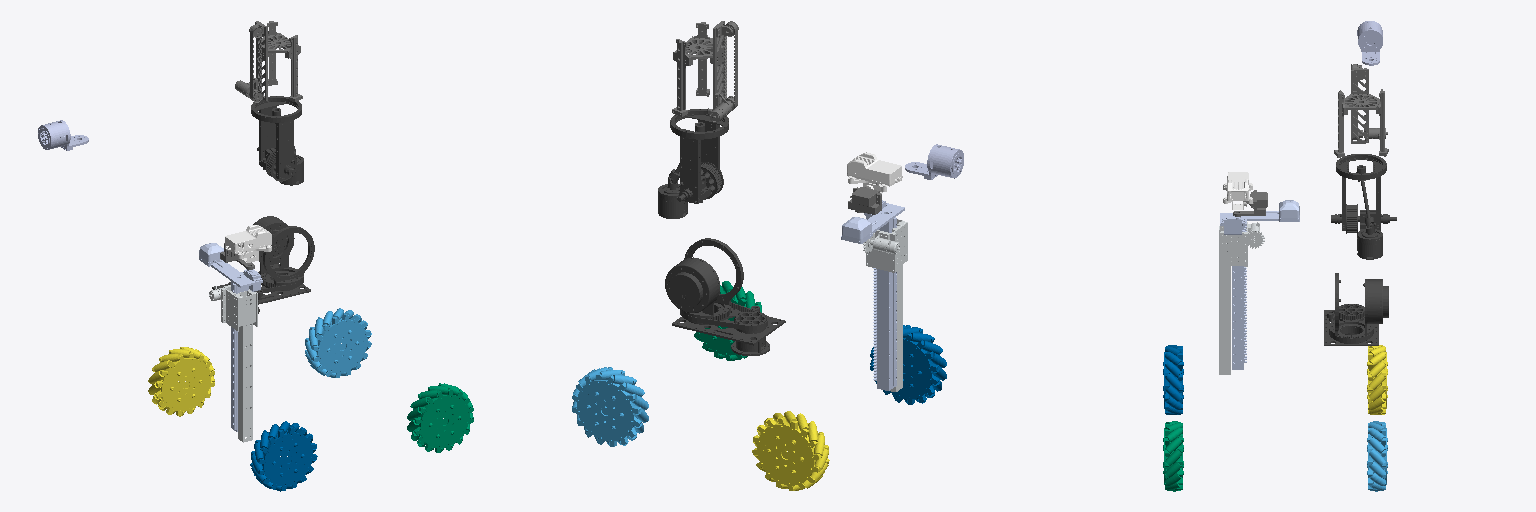
--- What the picture shows (computed from the rendered views, not written in the file) ---
3 views of the same robot in one strip: view 1: azimuth 30°, elevation 25°; view 2: azimuth 150°, elevation 25°; view 3: azimuth 270°, elevation 25° (orthographic).
Robot: engineer — 82 links, 81 joints (12 revolute, 64 continuous, 2 prismatic, 3 fixed); root link base_link; default pose: every joint at zero.
Visible links, largest first — view 1: left_front_wheel, left_back_wheel, right_back_wheel, right_front_wheel, link3, fpv_base_link, link6, link1, mast, fpv_pitch, link5, arm_base_link; view 2: link3, left_back_wheel, left_front_wheel, mast, link6, link1, right_back_wheel, arm_base_link, fpv_base_link, fpv_pitch, link5, right_front_wheel (+1 smaller); view 3: link3, mast, fpv_base_link, link6, link1, arm_base_link, right_back_wheel, left_front_wheel, right_front_wheel, left_back_wheel, link5, fpv_pitch.
Boxes of the visible links, <box> form: left_front_wheel: <box>305,308,371,377</box>; left_back_wheel: <box>148,347,214,416</box>; right_back_wheel: <box>250,421,317,491</box>; right_front_wheel: <box>407,383,473,452</box>; link3: <box>251,96,303,185</box>; fpv_base_link: <box>209,285,257,442</box>; link6: <box>235,21,302,102</box>; link1: <box>253,216,314,286</box>; mast: <box>199,243,262,431</box>; fpv_pitch: <box>225,225,271,262</box>; link5: <box>38,120,88,150</box>; arm_base_link: <box>212,267,310,313</box>; link3: <box>658,109,728,218</box>; left_back_wheel: <box>752,411,829,490</box>; left_front_wheel: <box>572,367,648,446</box>; mast: <box>841,200,904,390</box>; link6: <box>672,21,738,122</box>; link1: <box>665,238,743,320</box>; right_back_wheel: <box>870,325,946,404</box>; arm_base_link: <box>672,302,785,355</box>; fpv_base_link: <box>863,219,907,391</box>; fpv_pitch: <box>847,152,902,193</box>; link5: <box>905,144,963,179</box>; right_front_wheel: <box>694,281,761,360</box>; link3: <box>1331,154,1396,259</box>; mast: <box>1220,200,1299,369</box>; fpv_base_link: <box>1219,222,1264,374</box>; link6: <box>1334,64,1388,157</box>; link1: <box>1329,273,1388,337</box>; arm_base_link: <box>1324,304,1378,345</box>; right_back_wheel: <box>1163,345,1183,414</box>; left_front_wheel: <box>1367,421,1387,491</box>; right_front_wheel: <box>1163,421,1183,491</box>; left_back_wheel: <box>1367,345,1387,414</box>; link5: <box>1357,21,1382,65</box>; fpv_pitch: <box>1223,172,1252,209</box>.
Bounding box of the posed robot: 0.8282 × 0.5123 × 0.9153 m (x, y, z).
Meshes: 15 distinct files referenced, 13 mesh visuals loaded (11 binary STL); not drawn: 4 (reference not matched to a file when rendering).

robot.urdf — engineer:
<?xml version="1.0" ?>
<!-- =================================================================================== -->
<!-- |    This document was autogenerated by xacro from [local-path]/catkin_ws/src/sp_description/urdf/engineer/engineer.xacro | -->
<!-- |    EDITING THIS FILE BY HAND IS NOT RECOMMENDED                                 | -->
<!-- =================================================================================== -->
<robot name="engineer">
    <transmission name="trans_joint1">
        <type>transmission_interface/SimpleTransmission</type>
        <actuator name="joint1_motor">
            <mechanicalReduction>1.5</mechanicalReduction>
            <hardwareInterface>hardware_interface/PositionJointInterface</hardwareInterface>
        </actuator>
        <joint name="joint1">
            <hardwareInterface>hardware_interface/PositionJointInterface</hardwareInterface>
        </joint>
    </transmission>
    <transmission name="trans_joint2">
        <type>transmission_interface/SimpleTransmission</type>
        <actuator name="joint2_motor">
            <mechanicalReduction>6</mechanicalReduction>
            <hardwareInterface>hardware_interface/PositionJointInterface</hardwareInterface>
        </actuator>
        <joint name="joint2">
            <hardwareInterface>hardware_interface/PositionJointInterface</hardwareInterface>
        </joint>
    </transmission>
    <transmission name="trans_joint3">
        <type>transmission_interface/SimpleTransmission</type>
        <actuator name="joint3_motor">
            <mechanicalReduction>6</mechanicalReduction>
            <hardwareInterface>hardware_interface/PositionJointInterface</hardwareInterface>
        </actuator>
        <joint name="joint3">
            <hardwareInterface>hardware_interface/PositionJointInterface</hardwareInterface>
        </joint>
    </transmission>
    <transmission name="trans_joint4">
        <type>transmission_interface/SimpleTransmission</type>
        <actuator name="joint4_motor">
            <mechanicalReduction>1</mechanicalReduction>
            <hardwareInterface>hardware_interface/PositionJointInterface</hardwareInterface>
        </actuator>
        <joint name="joint4">
            <hardwareInterface>hardware_interface/PositionJointInterface</hardwareInterface>
        </joint>
    </transmission>
    <transmission name="trans_joint5">
        <type>transmission_interface/SimpleTransmission</type>
        <actuator name="joint5_motor">
            <mechanicalReduction>1</mechanicalReduction>
            <hardwareInterface>hardware_interface/PositionJointInterface</hardwareInterface>
        </actuator>
        <joint name="joint5">
            <hardwareInterface>hardware_interface/PositionJointInterface</hardwareInterface>
        </joint>
    </transmission>
    <transmission name="trans_joint6">
        <type>transmission_interface/SimpleTransmission</type>
        <actuator name="joint6_motor">
            <mechanicalReduction>1</mechanicalReduction>
            <hardwareInterface>hardware_interface/PositionJointInterface</hardwareInterface>
        </actuator>
        <joint name="joint6">
            <hardwareInterface>hardware_interface/PositionJointInterface</hardwareInterface>
        </joint>
    </transmission>
    <transmission name="trans_joint7">
        <type>transmission_interface/SimpleTransmission</type>
        <actuator name="joint7_motor">
            <mechanicalReduction>1570.8</mechanicalReduction>
            <hardwareInterface>hardware_interface/PositionJointInterface</hardwareInterface>
        </actuator>
        <joint name="joint7">
            <hardwareInterface>hardware_interface/PositionJointInterface</hardwareInterface>
        </joint>
    </transmission>
    <gazebo>
        <plugin filename="libgazebo_ros_vacuum_gripper.so" name="gazebo_ros_vacuum_gripper">
            <robotNamespace>/vacuum_gripper</robotNamespace>
            <bodyName>vacuum_gripper</bodyName>
            <topicName>grasping</topicName>
            <maxForce>100</maxForce>
            <maxDistance>0.05</maxDistance>
            <minDistance>0.01</minDistance>
        </plugin>
        <plugin name="gazebo_ros_control">
            <robotNamespace>/</robotNamespace>
        </plugin>
    </gazebo>
    <gazebo reference="vacuum_gripper">
        <mu1>50</mu1>
        <mu2>50</mu2>
        <minDepth>0.003</minDepth>
        <maxVel>0</maxVel>
        <kp>10000000000000.0</kp>
        <kd>1.0</kd>
        <ki>2.0</ki>
        <material>Gazebo/Grey</material>
    </gazebo>
    --&gt;
    <!--base link-->
    <link name="base_link">
        <inertial>
            <origin rpy="0 0 0" xyz="0.0147695790883097 -0.0277071473448106 0.0578144581314767" />
            <mass value="10.0515226503987" />
            <inertia ixx="0.0193511082538768" ixy="-3.41760973575497E-05" ixz="5.54217286706699E-06" iyy="0.0356235596590244" iyz="-8.92016001448171E-06" izz="0.046454065978897" />
        </inertial>
        <visual>
            <origin rpy="0 0 0" xyz="0 0 0" />
            <geometry>
                <mesh filename="package://sp_description/meshes/engineer_chassis/base_link.STL" />
            </geometry>
            <material name="">
                <color rgba="0.792156862745098 0.819607843137255 0.933333333333333 1" />
            </material>
        </visual>
        <collision>
            <origin rpy="0 0 0" xyz="0 0 0" />
            <geometry>
                <box size="0.6 0.6 0.150" />
            </geometry>
        </collision>
        <collision>
            <origin rpy="0 0 0" xyz="0.228 0.0 0.118" />
            <geometry>
                <box size="0.144 0.3 0.14" />
            </geometry>
        </collision>
        <collision>
            <origin rpy="0 0 0" xyz="-0.205 0.0 0.10" />
            <geometry>
                <box size="0.19 0.3 0.09" />
            </geometry>
        </collision>
        <collision>
            <origin rpy="0 0 0" xyz="-0.01 0.193 0.13" />
            <geometry>
                <box size="0.220 0.214 0.148" />
            </geometry>
        </collision>
        <collision>
            <origin rpy="0 0 0" xyz="0.0 0.22 0.09" />
            <geometry>
                <box size="0.6 0.16 0.07" />
            </geometry>
        </collision>
        <collision>
            <origin rpy="0 0 0" xyz="0.0 -0.24 0.13" />
            <geometry>
                <box size="0.5 0.12 0.28" />
            </geometry>
        </collision>
        <collision>
            <origin rpy="0 0 0" xyz="0.0 0.054 0.10" />
            <geometry>
                <box rpy="0 0 0" size="0.19 0.008 0.10" />
            </geometry>
        </collision>
        <collision>
            <origin rpy="0 0 0" xyz="0.0 -0.172 0.10" />
            <geometry>
                <box size="0.19 0.01 0.10" />
            </geometry>
        </collision>
    </link>
    <!--  link  -->
    <link name="left_front_wheel">
        <visual>
            <geometry>
                <mesh filename="package://sp_description/meshes/common/mecanum_wheel/right_mecanum_wheel.STL" />
            </geometry>
        </visual>
        <inertial>
            <mass value="0.4235" />
            <inertia ixx="4.122e-4" ixy="0.0" ixz="0.0" iyy="7.398e-4" iyz="0.0" izz="4.122e-4" />
        </inertial>
    </link>
    <!--  joint  -->
    <joint name="left_front_wheel_joint" type="revolute">
        <axis xyz="0 1 0" />
        <origin rpy="0 0 0" xyz="0.19727 0.223 0.000889" />
        <!--      limit not work while type="continuous"-->
        <limit effort="10" lower="-1e9" upper="1e9" velocity="70" />
        <dynamics damping="0.0" friction="0.05" />
        <parent link="base_link" />
        <child link="left_front_wheel" />
    </joint>
    <!--  link  -->
    <link name="left_front_roller_0">
        <collision>
            <geometry>
                <sphere radius="0.009" />
            </geometry>
        </collision>
        <inertial>
            <mass value="0.036" />
            <inertia ixx="3128e-9" ixy="0.0" ixz="0.0" iyy="3128e-9" iyz="0.0" izz="3128e-9" />
            <origin xyz="0 0 0" rpy="0 0 0" />
        </inertial>
    </link>
    <joint name="left_front_roller_0_joint" type="continuous">
        <origin rpy="0 0 0" xyz="4.163799117101001e-18 0 -0.068" />
        <axis xyz="0.7071067811865476 -0.7071067811865476 0.0" />
        <dynamics damping="0.0" friction="0.001" />
        <parent link="left_front_wheel" />
        <child link="left_front_roller_0" />
    </joint>
    <gazebo reference="left_front_roller_0">
        <mu1 value="2000.0" />
        <mu2 value="2000.0" />
        <kp value="1000000.0" />
        <kd value="100.0" />
        <material>Gazebo/Black</material>
    </gazebo>
    <!--  link  -->
    <link name="left_front_roller_1">
        <collision>
            <geometry>
                <sphere radius="0.009" />
            </geometry>
        </collision>
        <inertial>
            <mass value="0.036" />
            <inertia ixx="3128e-9" ixy="0.0" ixz="0.0" iyy="3128e-9" iyz="0.0" izz="3128e-9" />
            <origin xyz="0 0 0" rpy="0 0 0" />
        </inertial>
    </link>
    <joint name="left_front_roller_1_joint" type="continuous">
        <origin rpy="0 0 0" xyz="0.026041377055996056 0 -0.06281597472798972" />
        <axis xyz="0.653200024955946 -0.7071067811865476 0.27079462217250855" />
        <dynamics damping="0.0" friction="0.001" />
        <parent link="left_front_wheel" />
        <child link="left_front_roller_1" />
    </joint>
    <gazebo reference="left_front_roller_1">
        <mu1 value="2000.0" />
        <mu2 value="2000.0" />
        <kp value="1000000.0" />
        <kd value="100.0" />
        <material>Gazebo/Black</material>
    </gazebo>
    <!--  link  -->
    <link name="left_front_roller_2">
        <collision>
            <geometry>
                <sphere radius="0.009" />
            </geometry>
        </collision>
        <inertial>
            <mass value="0.036" />
            <inertia ixx="3128e-9" ixy="0.0" ixz="0.0" iyy="3128e-9" iyz="0.0" izz="3128e-9" />
            <origin xyz="0 0 0" rpy="0 0 0" />
        </inertial>
    </link>
    <joint name="left_front_roller_2_joint" type="continuous">
        <origin rpy="0 0 0" xyz="0.04811219067739703 0 -0.048054314147865956" />
        <axis xyz="0.49969899116506866 -0.7071067811865476 0.5003008277312888" />
        <dynamics damping="0.0" friction="0.001" />
        <parent link="left_front_wheel" />
        <child link="left_front_roller_2" />
    </joint>
    <gazebo reference="left_front_roller_2">
        <mu1 value="2000.0" />
        <mu2 value="2000.0" />
        <kp value="1000000.0" />
        <kd value="100.0" />
        <material>Gazebo/Black</material>
    </gazebo>
    <!--  link  -->
    <link name="left_front_roller_3">
        <collision>
            <geometry>
                <sphere radius="0.009" />
            </geometry>
        </collision>
        <inertial>
            <mass value="0.036" />
            <inertia ixx="3128e-9" ixy="0.0" ixz="0.0" iyy="3128e-9" iyz="0.0" izz="3128e-9" />
            <origin xyz="0 0 0" rpy="0 0 0" />
        </inertial>
    </link>
    <joint name="left_front_roller_3_joint" type="continuous">
        <origin rpy="0 0 0" xyz="0.06284727452340379 0 -0.025965748303869884" />
        <axis xyz="0.2700081868271984 -0.7071067811865476 0.6535254999204613" />
        <dynamics damping="0.0" friction="0.001" />
        <parent link="left_front_wheel" />
        <child link="left_front_roller_3" />
    </joint>
    <gazebo reference="left_front_roller_3">
        <mu1 value="2000.0" />
        <mu2 value="2000.0" />
        <kp value="1000000.0" />
        <kd value="100.0" />
        <material>Gazebo/Black</material>
    </gazebo>
    <!--  link  -->
    <link name="left_front_roller_4">
        <collision>
            <geometry>
                <sphere radius="0.009" />
            </geometry>
        </collision>
        <inertial>
            <mass value="0.036" />
            <inertia ixx="3128e-9" ixy="0.0" ixz="0.0" iyy="3128e-9" iyz="0.0" izz="3128e-9" />
            <origin xyz="0 0 0" rpy="0 0 0" />
        </inertial>
    </link>
    <joint name="left_front_roller_4_joint" type="continuous">
        <origin rpy="0 0 0" xyz="0.06799995073981367 0 8.184975818264867e-05" />
        <axis xyz="-0.0008511252801386329 -0.7071067811865476 0.7071062689481388" />
        <dynamics damping="0.0" friction="0.001" />
        <parent link="left_front_wheel" />
        <child link="left_front_roller_4" />
    </joint>
    <gazebo reference="left_front_roller_4">
        <mu1 value="2000.0" />
        <mu2 value="2000.0" />
        <kp value="1000000.0" />
        <kd value="100.0" />
        <material>Gazebo/Black</material>
    </gazebo>
    <!--  link  -->
    <link name="left_front_roller_5">
        <collision>
            <geometry>
                <sphere radius="0.009" />
            </geometry>
        </collision>
        <inertial>
            <mass value="0.036" />
            <inertia ixx="3128e-9" ixy="0.0" ixz="0.0" iyy="3128e-9" iyz="0.0" izz="3128e-9" />
            <origin xyz="0 0 0" rpy="0 0 0" />
        </inertial>
    </link>
    <joint name="left_front_roller_5_joint" type="continuous">
        <origin rpy="0 0 0" xyz="0.06278458392296919 0 0.026116968078619688" />
        <axis xyz="-0.27158066518271434 -0.7071067811865476 0.6528736036162853" />
        <dynamics damping="0.0" friction="0.001" />
        <parent link="left_front_wheel" />
        <child link="left_front_roller_5" />
    </joint>
    <gazebo reference="left_front_roller_5">
        <mu1 value="2000.0" />
        <mu2 value="2000.0" />
        <kp value="1000000.0" />
        <kd value="100.0" />
        <material>Gazebo/Black</material>
    </gazebo>
    <!--  link  -->
    <link name="left_front_roller_6">
        <collision>
            <geometry>
                <sphere radius="0.009" />
            </geometry>
        </collision>
        <inertial>
            <mass value="0.036" />
            <inertia ixx="3128e-9" ixy="0.0" ixz="0.0" iyy="3128e-9" iyz="0.0" izz="3128e-9" />
            <origin xyz="0 0 0" rpy="0 0 0" />
        </inertial>
    </link>
    <joint name="left_front_roller_6_joint" type="continuous">
        <origin rpy="0 0 0" xyz="0.0479963679958505 0 0.04816999750059053" />
        <axis xyz="-0.5009019394471561 -0.7071067811865476 0.499096430620454" />
        <dynamics damping="0.0" friction="0.001" />
        <parent link="left_front_wheel" />
        <child link="left_front_roller_6" />
    </joint>
    <gazebo reference="left_front_roller_6">
        <mu1 value="2000.0" />
        <mu2 value="2000.0" />
        <kp value="1000000.0" />
        <kd value="100.0" />
        <material>Gazebo/Black</material>
    </gazebo>
    <!--  link  -->
    <link name="left_front_roller_7">
        <collision>
            <geometry>
                <sphere radius="0.009" />
            </geometry>
        </collision>
        <inertial>
            <mass value="0.036" />
            <inertia ixx="3128e-9" ixy="0.0" ixz="0.0" iyy="3128e-9" iyz="0.0" izz="3128e-9" />
            <origin xyz="0 0 0" rpy="0 0 0" />
        </inertial>
    </link>
    <joint name="left_front_roller_7_joint" type="continuous">
        <origin rpy="0 0 0" xyz="0.0258900819318143 0 0.06287848326386335" />
        <axis xyz="-0.6538500280382736 -0.7071067811865476 0.2692213602861942" />
        <dynamics damping="0.0" friction="0.001" />
        <parent link="left_front_wheel" />
        <child link="left_front_roller_7" />
    </joint>
    <gazebo reference="left_front_roller_7">
        <mu1 value="2000.0" />
        <mu2 value="2000.0" />
        <kp value="1000000.0" />
        <kd value="100.0" />
        <material>Gazebo/Black</material>
    </gazebo>
    <!--  link  -->
    <link name="left_front_roller_8">
        <collision>
            <geometry>
                <sphere radius="0.009" />
            </geometry>
        </collision>
        <inertial>
            <mass value="0.036" />
            <inertia ixx="3128e-9" ixy="0.0" ixz="0.0" iyy="3128e-9" iyz="0.0" izz="3128e-9" />
            <origin xyz="0 0 0" rpy="0 0 0" />
        </inertial>
    </link>
    <joint name="left_front_roller_8_joint" type="continuous">
        <origin rpy="0 0 0" xyz="-0.00016369939777898906 0 0.06799980295932605" />
        <axis xyz="-0.7071047322336546 -0.7071067811865476 -0.0017022493271422689" />
        <dynamics damping="0.0" friction="0.001" />
        <parent link="left_front_wheel" />
        <child link="left_front_roller_8" />
    </joint>
    <gazebo reference="left_front_roller_8">
        <mu1 value="2000.0" />
        <mu2 value="2000.0" />
        <kp value="1000000.0" />
        <kd value="100.0" />
        <material>Gazebo/Black</material>
    </gazebo>
    <!--  link  -->
    <link name="left_front_roller_9">
        <collision>
            <geometry>
                <sphere radius="0.009" />
            </geometry>
        </collision>
        <inertial>
            <mass value="0.036" />
            <inertia ixx="3128e-9" ixy="0.0" ixz="0.0" iyy="3128e-9" iyz="0.0" izz="3128e-9" />
            <origin xyz="0 0 0" rpy="0 0 0" />
        </inertial>
    </link>
    <joint name="left_front_roller_9_joint" type="continuous">
        <origin rpy="0 0 0" xyz="-0.026192521262222306 0 0.06275310215382211" />
        <axis xyz="-0.6525462363744081 -0.7071067811865476 -0.2723663147189738" />
        <dynamics damping="0.0" friction="0.001" />
        <parent link="left_front_wheel" />
        <child link="left_front_roller_9" />
    </joint>
    <gazebo reference="left_front_roller_9">
        <mu1 value="2000.0" />
        <mu2 value="2000.0" />
        <kp value="1000000.0" />
        <kd value="100.0" />
        <material>Gazebo/Black</material>
    </gazebo>
    <!--  link  -->
    <link name="left_front_roller_10">
        <collision>
            <geometry>
                <sphere radius="0.009" />
            </geometry>
        </collision>
        <inertial>
            <mass value="0.036" />
            <inertia ixx="3128e-9" ixy="0.0" ixz="0.0" iyy="3128e-9" iyz="0.0" izz="3128e-9" />
            <origin xyz="0 0 0" rpy="0 0 0" />
        </inertial>
    </link>
    <joint name="left_front_roller_10_joint" type="continuous">
        <origin rpy="0 0 0" xyz="-0.048227734533694264 0 0.04793835230530472" />
        <axis xyz="-0.49849314697045194 -0.7071067811865476 -0.5015023254417625" />
        <dynamics damping="0.0" friction="0.001" />
        <parent link="left_front_wheel" />
        <child link="left_front_roller_10" />
    </joint>
    <gazebo reference="left_front_roller_10">
        <mu1 value="2000.0" />
        <mu2 value="2000.0" />
        <kp value="1000000.0" />
        <kd value="100.0" />
        <material>Gazebo/Black</material>
    </gazebo>
    <!--  link  -->
    <link name="left_front_roller_11">
        <collision>
            <geometry>
                <sphere radius="0.009" />
            </geometry>
        </collision>
        <inertial>
            <mass value="0.036" />
            <inertia ixx="3128e-9" ixy="0.0" ixz="0.0" iyy="3128e-9" iyz="0.0" izz="3128e-9" />
            <origin xyz="0 0 0" rpy="0 0 0" />
        </inertial>
    </link>
    <joint name="left_front_roller_11_joint" type="continuous">
        <origin rpy="0 0 0" xyz="-0.06290960090415226 0 0.02581437804945697" />
        <axis xyz="-0.2684341436894733 -0.7071067811865476 -0.6541736088391974" />
        <dynamics damping="0.0" friction="0.001" />
        <parent link="left_front_wheel" />
        <child link="left_front_roller_11" />
    </joint>
    <gazebo reference="left_front_roller_11">
        <mu1 value="2000.0" />
        <mu2 value="2000.0" />
        <kp value="1000000.0" />
        <kd value="100.0" />
        <material>Gazebo/Black</material>
    </gazebo>
    <!--  link  -->
    <link name="left_front_roller_12">
        <collision>
            <geometry>
                <sphere radius="0.009" />
            </geometry>
        </collision>
        <inertial>
            <mass value="0.036" />
            <inertia ixx="3128e-9" ixy="0.0" ixz="0.0" iyy="3128e-9" iyz="0.0" izz="3128e-9" />
            <origin xyz="0 0 0" rpy="0 0 0" />
        </inertial>
    </link>
    <joint name="left_front_roller_12_joint" type="continuous">
        <origin rpy="0 0 0" xyz="-0.06799955665875124 0 -0.0002455488002028931" />
        <axis xyz="0.002553370907877698 -0.7071067811865476 -0.7071021710453214" />
        <dynamics damping="0.0" friction="0.001" />
        <parent link="left_front_wheel" />
        <child link="left_front_roller_12" />
    </joint>
    <gazebo reference="left_front_roller_12">
        <mu1 value="2000.0" />
        <mu2 value="2000.0" />
        <kp value="1000000.0" />
        <kd value="100.0" />
        <material>Gazebo/Black</material>
    </gazebo>
    <!--  link  -->
    <link name="left_front_roller_13">
        <collision>
            <geometry>
                <sphere radius="0.009" />
            </geometry>
        </collision>
        <inertial>
            <mass value="0.036" />
            <inertia ixx="3128e-9" ixy="0.0" ixz="0.0" iyy="3128e-9" iyz="0.0" izz="3128e-9" />
            <origin xyz="0 0 0" rpy="0 0 0" />
        </inertial>
    </link>
    <joint name="left_front_roller_13_joint" type="continuous">
        <origin rpy="0 0 0" xyz="-0.06272152946616016 0 -0.026268036497340295" />
        <axis xyz="0.2731515696430154 -0.7071067811865476 -0.6522179237046135" />
        <dynamics damping="0.0" friction="0.001" />
        <parent link="left_front_wheel" />
        <child link="left_front_roller_13" />
    </joint>
    <gazebo reference="left_front_roller_13">
        <mu1 value="2000.0" />
        <mu2 value="2000.0" />
        <kp value="1000000.0" />
        <kd value="100.0" />
        <material>Gazebo/Black</material>
    </gazebo>
    <!--  link  -->
    <link name="left_front_roller_14">
        <collision>
            <geometry>
                <sphere radius="0.009" />
            </geometry>
        </collision>
        <inertial>
            <mass value="0.036" />
            <inertia ixx="3128e-9" ixy="0.0" ixz="0.0" iyy="3128e-9" iyz="0.0" izz="3128e-9" />
            <origin xyz="0 0 0" rpy="0 0 0" />
        </inertial>
    </link>
    <joint name="left_front_roller_14_joint" type="continuous">
        <origin rpy="0 0 0" xyz="-0.04788026716028342 0 -0.04828540169305713" />
        <axis xyz="0.5021019848452515 -0.7071067811865476 -0.49788914108911725" />
        <dynamics damping="0.0" friction="0.001" />
        <parent link="left_front_wheel" />
        <child link="left_front_roller_14" />
    </joint>
    <gazebo reference="left_front_roller_14">
        <mu1 value="2000.0" />
        <mu2 value="2000.0" />
        <kp value="1000000.0" />
        <kd value="100.0" />
        <material>Gazebo/Black</material>
    </gazebo>
    <!--  link  -->
    <link name="left_front_roller_15">
        <collision>
            <geometry>
                <sphere radius="0.009" />
            </geometry>
        </collision>
        <inertial>
            <mass value="0.036" />
            <inertia ixx="3128e-9" ixy="0.0" ixz="0.0" iyy="3128e-9" iyz="0.0" izz="3128e-9" />
            <origin xyz="0 0 0" rpy="0 0 0" />
        </inertial>
    </link>
    <joint name="left_front_roller_15_joint" type="continuous">
        <origin rpy="0 0 0" xyz="-0.025738636766479847 0 -0.06294062739918639" />
        <axis xyz="0.6544962418544192 -0.7071067811865476 -0.2676465381775779" />
        <dynamics damping="0.0" friction="0.001" />
        <parent link="left_front_wheel" />
        <child link="left_front_roller_15" />
    </joint>
    <gazebo reference="left_front_roller_15">
        <mu1 value="2000.0" />
        <mu2 value="2000.0" />
        <kp value="1000000.0" />
        <kd value="100.0" />
        <material>Gazebo/Black</material>
    </gazebo>
    <!--  link  -->
    <link name="right_front_wheel">
        <visual>
            <geometry>
                <mesh filename="package://sp_description/meshes/common/mecanum_wheel/left_mecanum_wheel.STL" />
            </geometry>
        </visual>
        <inertial>
            <mass value="0.4235" />
            <inertia ixx="4.122e-4" ixy="0.0" ixz="0.0" iyy="7.398e-4" iyz="0.0" izz="4.122e-4" />
        </inertial>
    </link>
    <!--  joint  -->
    <joint name="right_front_wheel_joint" type="revolute">
        <axis xyz="0 1 0" />
        <origin rpy="0 0 0" xyz="0.19727 -0.223 0.000889" />
        <!--      limit not work while type="continuous"-->
        <limit effort="10" lower="-1e9" upper="1e9" velocity="70" />
        <dynamics damping="0.0" friction="0.05" />
        <parent link="base_link" />
        <child link="right_front_wheel" />
    </joint>
    <!--  link  -->
    <link name="right_front_roller_0">
        <collision>
            <geometry>
                <sphere radius="0.009" />
            </geometry>
        </collision>
        <inertial>
            <mass value="0.036" />
            <inertia ixx="3128e-9" ixy="0.0" ixz="0.0" iyy="3128e-9" iyz="0.0" izz="3128e-9" />
            <origin xyz="0 0 0" rpy="0 0 0" />
        </inertial>
    </link>
    <joint name="right_front_roller_0_joint" type="continuous">
        <origin rpy="0 0 0" xyz="4.163799117101001e-18 0 -0.068" />
        <axis xyz="0.7071067811865476 0.7071067811865476 0.0" />
        <dynamics damping="0.0" friction="0.001" />
        <parent link="right_front_wheel" />
        <child link="right_front_roller_0" />
    </joint>
    <gazebo reference="right_front_roller_0">
        <mu1 value="2000.0" />
        <mu2 value="2000.0" />
        <kp value="1000000.0" />
        <kd value="100.0" />
        <material>Gazebo/Black</material>
    </gazebo>
    <!--  link  -->
    <link name="right_front_roller_1">
        <collision>
            <geometry>
                <sphere radius="0.009" />
            </geometry>
        </collision>
        <inertial>
            <mass value="0.036" />
            <inertia ixx="3128e-9" ixy="0.0" ixz="0.0" iyy="3128e-9" iyz="0.0" izz="3128e-9" />
            <origin xyz="0 0 0" rpy="0 0 0" />
        </inertial>
    </link>
    <joint name="right_front_roller_1_joint" type="continuous">
        <origin rpy="0 0 0" xyz="0.026041377055996056 0 -0.06281597472798972" />
        <axis xyz="0.653200024955946 0.7071067811865476 0.27079462217250855" />
        <dynamics damping="0.0" friction="0.001" />
        <parent link="right_front_wheel" />
        <child link="right_front_roller_1" />
    </joint>
    <gazebo reference="right_front_roller_1">
        <mu1 value="2000.0" />
        <mu2 value="2000.0" />
        <kp value="1000000.0" />
        <kd value="100.0" />
        <material>Gazebo/Black</material>
    </gazebo>
    <!--  link  -->
    <link name="right_front_roller_2">
        <collision>
            <geometry>
                <sphere radius="0.009" />
            </geometry>
        </collision>
        <inertial>
            <mass value="0.036" />
            <inertia ixx="3128e-9" ixy="0.0" ixz="0.0" iyy="3128e-9" iyz="0.0" izz="3128e-9" />
            <origin xyz="0 0 0" rpy="0 0 0" />
        </inertial>
    </link>
    <joint name="right_front_roller_2_joint" type="continuous">
        <origin rpy="0 0 0" xyz="0.04811219067739703 0 -0.048054314147865956" />
        <axis xyz="0.49969899116506866 0.7071067811865476 0.5003008277312888" />
        <dynamics damping="0.0" friction="0.001" />
        <parent link="right_front_wheel" />
        <child link="right_front_roller_2" />
    </joint>
    <gazebo reference="right_front_roller_2">
        <mu1 value="2000.0" />
        <mu2 value="2000.0" />
        <kp value="1000000.0" />
        <kd value="100.0" />
        <material>Gazebo/Black</material>
    </gazebo>
    <!--  link  -->
    <link name="right_front_roller_3">
        <collision>
            <geometry>
                <sphere radius="0.009" />
            </geometry>
        </collision>
        <inertial>
            <mass value="0.036" />
            <inertia ixx="3128e-9" ixy="0.0" ixz="0.0" iyy="3128e-9" iyz="0.0" izz="3128e-9" />
            <origin xyz="0 0 0" rpy="0 0 0" />
        </inertial>
    </link>
    <joint name="right_front_roller_3_joint" type="continuous">
        <origin rpy="0 0 0" xyz="0.06284727452340379 0 -0.025965748303869884" />
        <axis xyz="0.2700081868271984 0.7071067811865476 0.6535254999204613" />
        <dynamics damping="0.0" friction="0.001" />
        <parent link="right_front_wheel" />
        <child link="right_front_roller_3" />
    </joint>
    <gazebo reference="right_front_roller_3">
        <mu1 value="2000.0" />
        <mu2 value="2000.0" />
        <kp value="1000000.0" />
        <kd value="100.0" />
        <material>Gazebo/Black</material>
    </gazebo>
    <!--  link  -->
    <link name="right_front_roller_4">
        <collision>
            <geometry>
                <sphere radius="0.009" />
            </geometry>
        </collision>
        <inertial>
            <mass value="0.036" />
            <inertia ixx="3128e-9" ixy="0.0" ixz="0.0" iyy="3128e-9" iyz="0.0" izz="3128e-9" />
            <origin xyz="0 0 0" rpy="0 0 0" />
        </inertial>
    </link>
    <joint name="right_front_roller_4_joint" type="continuous">
        <origin rpy="0 0 0" xyz="0.06799995073981367 0 8.184975818264867e-05" />
        <axis xyz="-0.0008511252801386329 0.7071067811865476 0.7071062689481388" />
        <dynamics damping="0.0" friction="0.001" />
        <parent link="right_front_wheel" />
        <child link="right_front_roller_4" />
    </joint>
    <gazebo reference="right_front_roller_4">
        <mu1 value="2000.0" />
        <mu2 value="2000.0" />
        <kp value="1000000.0" />
        <kd value="100.0" />
        <material>Gazebo/Black</material>
    </gazebo>
    <!--  link  -->
    <link name="right_front_roller_5">
        <collision>
            <geometry>
                <sphere radius="0.009" />
            </geometry>
        </collision>
        <inertial>
            <mass value="0.036" />
            <inertia ixx="3128e-9" ixy="0.0" ixz="0.0" iyy="3128e-9" iyz="0.0" izz="3128e-9" />
            <origin xyz="0 0 0" rpy="0 0 0" />
        </inertial>
    </link>
    <joint name="right_front_roller_5_joint" type="continuous">
        <origin rpy="0 0 0" xyz="0.06278458392296919 0 0.026116968078619688" />
        <axis xyz="-0.27158066518271434 0.7071067811865476 0.6528736036162853" />
        <dynamics damping="0.0" friction="0.001" />
        <parent link="right_front_wheel" />
        <child link="right_front_roller_5" />
    </joint>
    <gazebo reference="right_front_roller_5">
        <mu1 value="2000.0" />
        <mu2 value="2000.0" />
        <kp value="1000000.0" />
        <kd value="100.0" />
        <material>Gazebo/Black</material>
    </gazebo>
    <!--  link  -->
    <link name="right_front_roller_6">
        <collision>
            <geometry>
                <sphere radius="0.009" />
            </geometry>
        </collision>
        <inertial>
            <mass value="0.036" />
            <inertia ixx="3128e-9" ixy="0.0" ixz="0.0" iyy="3128e-9" iyz="0.0" izz="3128e-9" />
            <origin xyz="0 0 0" rpy="0 0 0" />
        </inertial>
    </link>
    <joint name="right_front_roller_6_joint" type="continuous">
        <origin rpy="0 0 0" xyz="0.0479963679958505 0 0.04816999750059053" />
        <axis xyz="-0.5009019394471561 0.7071067811865476 0.499096430620454" />
        <dynamics damping="0.0" friction="0.001" />
        <parent link="right_front_wheel" />
        <child link="right_front_roller_6" />
    </joint>
    <gazebo reference="right_front_roller_6">
        <mu1 value="2000.0" />
        <mu2 value="2000.0" />
        <kp value="1000000.0" />
        <kd value="100.0" />
        <material>Gazebo/Black</material>
    </gazebo>
    <!--  link  -->
    <link name="right_front_roller_7">
        <collision>
            <geometry>
                <sphere radius="0.009" />
            </geometry>
        </collision>
        <inertial>
            <mass value="0.036" />
            <inertia ixx="3128e-9" ixy="0.0" ixz="0.0" iyy="3128e-9" iyz="0.0" izz="3128e-9" />
            <origin xyz="0 0 0" rpy="0 0 0" />
        </inertial>
    </link>
    <joint name="right_front_roller_7_joint" type="continuous">
        <origin rpy="0 0 0" xyz="0.0258900819318143 0 0.06287848326386335" />
        <axis xyz="-0.6538500280382736 0.7071067811865476 0.2692213602861942" />
        <dynamics damping="0.0" friction="0.001" />
        <parent link="right_front_wheel" />
        <child link="right_front_roller_7" />
    </joint>
    <gazebo reference="right_front_roller_7">
        <mu1 value="2000.0" />
        <mu2 value="2000.0" />
        <kp value="1000000.0" />
        <kd value="100.0" />
        <material>Gazebo/Black</material>
    </gazebo>
    <!--  link  -->
    <link name="right_front_roller_8">
        <collision>
            <geometry>
                <sphere radius="0.009" />
            </geometry>
        </collision>
        <inertial>
            <mass value="0.036" />
            <inertia ixx="3128e-9" ixy="0.0" ixz="0.0" iyy="3128e-9" iyz="0.0" izz="3128e-9" />
            <origin xyz="0 0 0" rpy="0 0 0" />
        </inertial>
    </link>
    <joint name="right_front_roller_8_joint" type="continuous">
        <origin rpy="0 0 0" xyz="-0.00016369939777898906 0 0.06799980295932605" />
        <axis xyz="-0.7071047322336546 0.7071067811865476 -0.0017022493271422689" />
        <dynamics damping="0.0" friction="0.001" />
        <parent link="right_front_wheel" />
        <child link="right_front_roller_8" />
    </joint>
    <gazebo reference="right_front_roller_8">
        <mu1 value="2000.0" />
        <mu2 value="2000.0" />
        <kp value="1000000.0" />
        <kd value="100.0" />
        <material>Gazebo/Black</material>
    </gazebo>
    <!--  link  -->
    <link name="right_front_roller_9">
        <collision>
            <geometry>
                <sphere radius="0.009" />
            </geometry>
        </collision>
        <inertial>
            <mass value="0.036" />
            <inertia ixx="3128e-9" ixy="0.0" ixz="0.0" iyy="3128e-9" iyz="0.0" izz="3128e-9" />
            <origin xyz="0 0 0" rpy="0 0 0" />
        </inertial>
    </link>
    <joint name="right_front_roller_9_joint" type="continuous">
        <origin rpy="0 0 0" xyz="-0.026192521262222306 0 0.06275310215382211" />
        <axis xyz="-0.6525462363744081 0.7071067811865476 -0.2723663147189738" />
        <dynamics damping="0.0" friction="0.001" />
        <parent link="right_front_wheel" />
        <child link="right_front_roller_9" />
    </joint>
    <gazebo reference="right_front_roller_9">
        <mu1 value="2000.0" />
        <mu2 value="2000.0" />
        <kp value="1000000.0" />
        <kd value="100.0" />
        <material>Gazebo/Black</material>
    </gazebo>
    <!--  link  -->
    <link name="right_front_roller_10">
        <collision>
            <geometry>
                <sphere radius="0.009" />
            </geometry>
        </collision>
        <inertial>
            <mass value="0.036" />
            <inertia ixx="3128e-9" ixy="0.0" ixz="0.0" iyy="3128e-9" iyz="0.0" izz="3128e-9" />
            <origin xyz="0 0 0" rpy="0 0 0" />
        </inertial>
    </link>
    <joint name="right_front_roller_10_joint" type="continuous">
        <origin rpy="0 0 0" xyz="-0.048227734533694264 0 0.04793835230530472" />
        <axis xyz="-0.49849314697045194 0.7071067811865476 -0.5015023254417625" />
        <dynamics damping="0.0" friction="0.001" />
        <parent link="right_front_wheel" />
        <child link="right_front_roller_10" />
    </joint>
    <gazebo reference="right_front_roller_10">
        <mu1 value="2000.0" />
        <mu2 value="2000.0" />
        <kp value="1000000.0" />
        <kd value="100.0" />
        <material>Gazebo/Black</material>
    </gazebo>
    <!--  link  -->
    <link name="right_front_roller_11">
        <collision>
            <geometry>
                <sphere radius="0.009" />
            </geometry>
        </collision>
        <inertial>
            <mass value="0.036" />
            <inertia ixx="3128e-9" ixy="0.0" ixz="0.0" iyy="3128e-9" iyz="0.0" izz="3128e-9" />
            <origin xyz="0 0 0" rpy="0 0 0" />
        </inertial>
    </link>
    <joint name="right_front_roller_11_joint" type="continuous">
        <origin rpy="0 0 0" xyz="-0.06290960090415226 0 0.02581437804945697" />
        <axis xyz="-0.2684341436894733 0.7071067811865476 -0.6541736088391974" />
        <dynamics damping="0.0" friction="0.001" />
        <parent link="right_front_wheel" />
        <child link="right_front_roller_11" />
    </joint>
    <gazebo reference="right_front_roller_11">
        <mu1 value="2000.0" />
        <mu2 value="2000.0" />
        <kp value="1000000.0" />
        <kd value="100.0" />
        <material>Gazebo/Black</material>
    </gazebo>
    <!--  link  -->
    <link name="right_front_roller_12">
        <collision>
            <geometry>
                <sphere radius="0.009" />
            </geometry>
        </collision>
        <inertial>
            <mass value="0.036" />
            <inertia ixx="3128e-9" ixy="0.0" ixz="0.0" iyy="3128e-9" iyz="0.0" izz="3128e-9" />
            <origin xyz="0 0 0" rpy="0 0 0" />
        </inertial>
    </link>
    <joint name="right_front_roller_12_joint" type="continuous">
        <origin rpy="0 0 0" xyz="-0.06799955665875124 0 -0.0002455488002028931" />
        <axis xyz="0.002553370907877698 0.7071067811865476 -0.7071021710453214" />
        <dynamics damping="0.0" friction="0.001" />
        <parent link="right_front_wheel" />
        <child link="right_front_roller_12" />
    </joint>
    <gazebo reference="right_front_roller_12">
        <mu1 value="2000.0" />
        <mu2 value="2000.0" />
        <kp value="1000000.0" />
        <kd value="100.0" />
        <material>Gazebo/Black</material>
    </gazebo>
    <!--  link  -->
    <link name="right_front_roller_13">
        <collision>
            <geometry>
                <sphere radius="0.009" />
            </geometry>
        </collision>
        <inertial>
            <mass value="0.036" />
            <inertia ixx="3128e-9" ixy="0.0" ixz="0.0" iyy="3128e-9" iyz="0.0" izz="3128e-9" />
            <origin xyz="0 0 0" rpy="0 0 0" />
        </inertial>
    </link>
    <joint name="right_front_roller_13_joint" type="continuous">
        <origin rpy="0 0 0" xyz="-0.06272152946616016 0 -0.026268036497340295" />
        <axis xyz="0.2731515696430154 0.7071067811865476 -0.6522179237046135" />
        <dynamics damping="0.0" friction="0.001" />
        <parent link="right_front_wheel" />
        <child link="right_front_roller_13" />
    </joint>
    <gazebo reference="right_front_roller_13">
        <mu1 value="2000.0" />
        <mu2 value="2000.0" />
        <kp value="1000000.0" />
        <kd value="100.0" />
        <material>Gazebo/Black</material>
    </gazebo>
    <!--  link  -->
    <link name="right_front_roller_14">
        <collision>
            <geometry>
                <sphere radius="0.009" />
            </geometry>
        </collision>
        <inertial>
            <mass value="0.036" />
            <inertia ixx="3128e-9" ixy="0.0" ixz="0.0" iyy="3128e-9" iyz="0.0" izz="3128e-9" />
            <origin xyz="0 0 0" rpy="0 0 0" />
        </inertial>
    </link>
    <joint name="right_front_roller_14_joint" type="continuous">
        <origin rpy="0 0 0" xyz="-0.04788026716028342 0 -0.04828540169305713" />
        <axis xyz="0.5021019848452515 0.7071067811865476 -0.49788914108911725" />
        <dynamics damping="0.0" friction="0.001" />
        <parent link="right_front_wheel" />
        <child link="right_front_roller_14" />
    </joint>
    <gazebo reference="right_front_roller_14">
        <mu1 value="2000.0" />
        <mu2 value="2000.0" />
        <kp value="1000000.0" />
        <kd value="100.0" />
        <material>Gazebo/Black</material>
    </gazebo>
    <!--  link  -->
    <link name="right_front_roller_15">
        <collision>
            <geometry>
                <sphere radius="0.009" />
            </geometry>
        </collision>
        <inertial>
            <mass value="0.036" />
            <inertia ixx="3128e-9" ixy="0.0" ixz="0.0" iyy="3128e-9" iyz="0.0" izz="3128e-9" />
            <origin xyz="0 0 0" rpy="0 0 0" />
        </inertial>
    </link>
    <joint name="right_front_roller_15_joint" type="continuous">
        <origin rpy="0 0 0" xyz="-0.025738636766479847 0 -0.06294062739918639" />
        <axis xyz="0.6544962418544192 0.7071067811865476 -0.2676465381775779" />
        <dynamics damping="0.0" friction="0.001" />
        <parent link="right_front_wheel" />
        <child link="right_front_roller_15" />
    </joint>
    <gazebo reference="right_front_roller_15">
        <mu1 value="2000.0" />
        <mu2 value="2000.0" />
        <kp value="1000000.0" />
        <kd value="100.0" />
        <material>Gazebo/Black</material>
    </gazebo>
    <!--  link  -->
    <link name="left_back_wheel">
        <visual>
            <geometry>
                <mesh filename="package://sp_description/meshes/common/mecanum_wheel/left_mecanum_wheel.STL" />
            </geometry>
        </visual>
        <inertial>
            <mass value="0.4235" />
            <inertia ixx="4.122e-4" ixy="0.0" ixz="0.0" iyy="7.398e-4" iyz="0.0" izz="4.122e-4" />
        </inertial>
    </link>
    <!--  joint  -->
    <joint name="left_back_wheel_joint" type="revolute">
        <axis xyz="0 1 0" />
        <origin rpy="0 0 0" xyz="-0.19727 0.223 0.000889" />
        <!--      limit not work while type="continuous"-->
        <limit effort="10" lower="-1e9" upper="1e9" velocity="70" />
        <dynamics damping="0.0" friction="0.05" />
        <parent link="base_link" />
        <child link="left_back_wheel" />
    </joint>
    <!--  link  -->
    <link name="left_back_roller_0">
        <collision>
            <geometry>
                <sphere radius="0.009" />
            </geometry>
        </collision>
        <inertial>
            <mass value="0.036" />
            <inertia ixx="3128e-9" ixy="0.0" ixz="0.0" iyy="3128e-9" iyz="0.0" izz="3128e-9" />
            <origin xyz="0 0 0" rpy="0 0 0" />
        </inertial>
    </link>
    <joint name="left_back_roller_0_joint" type="continuous">
        <origin rpy="0 0 0" xyz="4.163799117101001e-18 0 -0.068" />
        <axis xyz="0.7071067811865476 0.7071067811865476 0.0" />
        <dynamics damping="0.0" friction="0.001" />
        <parent link="left_back_wheel" />
        <child link="left_back_roller_0" />
    </joint>
    <gazebo reference="left_back_roller_0">
        <mu1 value="2000.0" />
        <mu2 value="2000.0" />
        <kp value="1000000.0" />
        <kd value="100.0" />
        <material>Gazebo/Black</material>
    </gazebo>
    <!--  link  -->
    <link name="left_back_roller_1">
        <collision>
            <geometry>
                <sphere radius="0.009" />
            </geometry>
        </collision>
        <inertial>
            <mass value="0.036" />
            <inertia ixx="3128e-9" ixy="0.0" ixz="0.0" iyy="3128e-9" iyz="0.0" izz="3128e-9" />
            <origin xyz="0 0 0" rpy="0 0 0" />
        </inertial>
    </link>
    <joint name="left_back_roller_1_joint" type="continuous">
        <origin rpy="0 0 0" xyz="0.026041377055996056 0 -0.06281597472798972" />
        <axis xyz="0.653200024955946 0.7071067811865476 0.27079462217250855" />
        <dynamics damping="0.0" friction="0.001" />
        <parent link="left_back_wheel" />
        <child link="left_back_roller_1" />
    </joint>
    <gazebo reference="left_back_roller_1">
        <mu1 value="2000.0" />
        <mu2 value="2000.0" />
        <kp value="1000000.0" />
        <kd value="100.0" />
        <material>Gazebo/Black</material>
    </gazebo>
    <!--  link  -->
    <link name="left_back_roller_2">
        <collision>
            <geometry>
                <sphere radius="0.009" />
            </geometry>
        </collision>
        <inertial>
            <mass value="0.036" />
            <inertia ixx="3128e-9" ixy="0.0" ixz="0.0" iyy="3128e-9" iyz="0.0" izz="3128e-9" />
            <origin xyz="0 0 0" rpy="0 0 0" />
        </inertial>
    </link>
    <joint name="left_back_roller_2_joint" type="continuous">
        <origin rpy="0 0 0" xyz="0.04811219067739703 0 -0.048054314147865956" />
        <axis xyz="0.49969899116506866 0.7071067811865476 0.5003008277312888" />
        <dynamics damping="0.0" friction="0.001" />
        <parent link="left_back_wheel" />
        <child link="left_back_roller_2" />
    </joint>
    <gazebo reference="left_back_roller_2">
        <mu1 value="2000.0" />
        <mu2 value="2000.0" />
        <kp value="1000000.0" />
        <kd value="100.0" />
        <material>Gazebo/Black</material>
    </gazebo>
    <!--  link  -->
    <link name="left_back_roller_3">
        <collision>
            <geometry>
                <sphere radius="0.009" />
            </geometry>
        </collision>
        <inertial>
            <mass value="0.036" />
            <inertia ixx="3128e-9" ixy="0.0" ixz="0.0" iyy="3128e-9" iyz="0.0" izz="3128e-9" />
            <origin xyz="0 0 0" rpy="0 0 0" />
        </inertial>
    </link>
    <joint name="left_back_roller_3_joint" type="continuous">
        <origin rpy="0 0 0" xyz="0.06284727452340379 0 -0.025965748303869884" />
        <axis xyz="0.2700081868271984 0.7071067811865476 0.6535254999204613" />
        <dynamics damping="0.0" friction="0.001" />
        <parent link="left_back_wheel" />
        <child link="left_back_roller_3" />
    </joint>
    <gazebo reference="left_back_roller_3">
        <mu1 value="2000.0" />
        <mu2 value="2000.0" />
        <kp value="1000000.0" />
        <kd value="100.0" />
        <material>Gazebo/Black</material>
    </gazebo>
    <!--  link  -->
    <link name="left_back_roller_4">
        <collision>
            <geometry>
                <sphere radius="0.009" />
            </geometry>
        </collision>
        <inertial>
            <mass value="0.036" />
            <inertia ixx="3128e-9" ixy="0.0" ixz="0.0" iyy="3128e-9" iyz="0.0" izz="3128e-9" />
            <origin xyz="0 0 0" rpy="0 0 0" />
        </inertial>
    </link>
    <joint name="left_back_roller_4_joint" type="continuous">
        <origin rpy="0 0 0" xyz="0.06799995073981367 0 8.184975818264867e-05" />
        <axis xyz="-0.0008511252801386329 0.7071067811865476 0.7071062689481388" />
        <dynamics damping="0.0" friction="0.001" />
        <parent link="left_back_wheel" />
        <child link="left_back_roller_4" />
    </joint>
    <gazebo reference="left_back_roller_4">
        <mu1 value="2000.0" />
        <mu2 value="2000.0" />
        <kp value="1000000.0" />
        <kd value="100.0" />
        <material>Gazebo/Black</material>
    </gazebo>
    <!--  link  -->
    <link name="left_back_roller_5">
        <collision>
            <geometry>
                <sphere radius="0.009" />
            </geometry>
        </collision>
        <inertial>
            <mass value="0.036" />
            <inertia ixx="3128e-9" ixy="0.0" ixz="0.0" iyy="3128e-9" iyz="0.0" izz="3128e-9" />
            <origin xyz="0 0 0" rpy="0 0 0" />
        </inertial>
    </link>
    <joint name="left_back_roller_5_joint" type="continuous">
        <origin rpy="0 0 0" xyz="0.06278458392296919 0 0.026116968078619688" />
        <axis xyz="-0.27158066518271434 0.7071067811865476 0.6528736036162853" />
        <dynamics damping="0.0" friction="0.001" />
        <parent link="left_back_wheel" />
        <child link="left_back_roller_5" />
    </joint>
    <gazebo reference="left_back_roller_5">
        <mu1 value="2000.0" />
        <mu2 value="2000.0" />
        <kp value="1000000.0" />
        <kd value="100.0" />
        <material>Gazebo/Black</material>
    </gazebo>
    <!--  link  -->
    <link name="left_back_roller_6">
        <collision>
            <geometry>
                <sphere radius="0.009" />
            </geometry>
        </collision>
        <inertial>
            <mass value="0.036" />
            <inertia ixx="3128e-9" ixy="0.0" ixz="0.0" iyy="3128e-9" iyz="0.0" izz="3128e-9" />
            <origin xyz="0 0 0" rpy="0 0 0" />
        </inertial>
    </link>
    <joint name="left_back_roller_6_joint" type="continuous">
        <origin rpy="0 0 0" xyz="0.0479963679958505 0 0.04816999750059053" />
        <axis xyz="-0.5009019394471561 0.7071067811865476 0.499096430620454" />
        <dynamics damping="0.0" friction="0.001" />
        <parent link="left_back_wheel" />
        <child link="left_back_roller_6" />
    </joint>
    <gazebo reference="left_back_roller_6">
        <mu1 value="2000.0" />
        <mu2 value="2000.0" />
        <kp value="1000000.0" />
        <kd value="100.0" />
        <material>Gazebo/Black</material>
    </gazebo>
    <!--  link  -->
    <link name="left_back_roller_7">
        <collision>
            <geometry>
                <sphere radius="0.009" />
            </geometry>
        </collision>
        <inertial>
            <mass value="0.036" />
            <inertia ixx="3128e-9" ixy="0.0" ixz="0.0" iyy="3128e-9" iyz="0.0" izz="3128e-9" />
            <origin xyz="0 0 0" rpy="0 0 0" />
        </inertial>
    </link>
    <joint name="left_back_roller_7_joint" type="continuous">
        <origin rpy="0 0 0" xyz="0.0258900819318143 0 0.06287848326386335" />
        <axis xyz="-0.6538500280382736 0.7071067811865476 0.2692213602861942" />
        <dynamics damping="0.0" friction="0.001" />
        <parent link="left_back_wheel" />
        <child link="left_back_roller_7" />
    </joint>
    <gazebo reference="left_back_roller_7">
        <mu1 value="2000.0" />
        <mu2 value="2000.0" />
        <kp value="1000000.0" />
        <kd value="100.0" />
        <material>Gazebo/Black</material>
    </gazebo>
    <!--  link  -->
    <link name="left_back_roller_8">
        <collision>
            <geometry>
                <sphere radius="0.009" />
            </geometry>
        </collision>
        <inertial>
            <mass value="0.036" />
            <inertia ixx="3128e-9" ixy="0.0" ixz="0.0" iyy="3128e-9" iyz="0.0" izz="3128e-9" />
            <origin xyz="0 0 0" rpy="0 0 0" />
        </inertial>
    </link>
    <joint name="left_back_roller_8_joint" type="continuous">
        <origin rpy="0 0 0" xyz="-0.00016369939777898906 0 0.06799980295932605" />
        <axis xyz="-0.7071047322336546 0.7071067811865476 -0.0017022493271422689" />
        <dynamics damping="0.0" friction="0.001" />
        <parent link="left_back_wheel" />
        <child link="left_back_roller_8" />
    </joint>
    <gazebo reference="left_back_roller_8">
        <mu1 value="2000.0" />
        <mu2 value="2000.0" />
        <kp value="1000000.0" />
        <kd value="100.0" />
        <material>Gazebo/Black</material>
    </gazebo>
    <!--  link  -->
    <link name="left_back_roller_9">
        <collision>
            <geometry>
                <sphere radius="0.009" />
            </geometry>
        </collision>
        <inertial>
            <mass value="0.036" />
            <inertia ixx="3128e-9" ixy="0.0" ixz="0.0" iyy="3128e-9" iyz="0.0" izz="3128e-9" />
            <origin xyz="0 0 0" rpy="0 0 0" />
        </inertial>
    </link>
    <joint name="left_back_roller_9_joint" type="continuous">
        <origin rpy="0 0 0" xyz="-0.026192521262222306 0 0.06275310215382211" />
        <axis xyz="-0.6525462363744081 0.7071067811865476 -0.2723663147189738" />
        <dynamics damping="0.0" friction="0.001" />
        <parent link="left_back_wheel" />
        <child link="left_back_roller_9" />
    </joint>
    <gazebo reference="left_back_roller_9">
        <mu1 value="2000.0" />
        <mu2 value="2000.0" />
        <kp value="1000000.0" />
        <kd value="100.0" />
        <material>Gazebo/Black</material>
    </gazebo>
    <!--  link  -->
    <link name="left_back_roller_10">
        <collision>
            <geometry>
                <sphere radius="0.009" />
            </geometry>
        </collision>
        <inertial>
            <mass value="0.036" />
            <inertia ixx="3128e-9" ixy="0.0" ixz="0.0" iyy="3128e-9" iyz="0.0" izz="3128e-9" />
            <origin xyz="0 0 0" rpy="0 0 0" />
        </inertial>
    </link>
    <joint name="left_back_roller_10_joint" type="continuous">
        <origin rpy="0 0 0" xyz="-0.048227734533694264 0 0.04793835230530472" />
        <axis xyz="-0.49849314697045194 0.7071067811865476 -0.5015023254417625" />
        <dynamics damping="0.0" friction="0.001" />
        <parent link="left_back_wheel" />
        <child link="left_back_roller_10" />
    </joint>
    <gazebo reference="left_back_roller_10">
        <mu1 value="2000.0" />
        <mu2 value="2000.0" />
        <kp value="1000000.0" />
        <kd value="100.0" />
        <material>Gazebo/Black</material>
    </gazebo>
    <!--  link  -->
    <link name="left_back_roller_11">
        <collision>
            <geometry>
                <sphere radius="0.009" />
            </geometry>
        </collision>
        <inertial>
            <mass value="0.036" />
            <inertia ixx="3128e-9" ixy="0.0" ixz="0.0" iyy="3128e-9" iyz="0.0" izz="3128e-9" />
            <origin xyz="0 0 0" rpy="0 0 0" />
        </inertial>
    </link>
    <joint name="left_back_roller_11_joint" type="continuous">
        <origin rpy="0 0 0" xyz="-0.06290960090415226 0 0.02581437804945697" />
        <axis xyz="-0.2684341436894733 0.7071067811865476 -0.6541736088391974" />
        <dynamics damping="0.0" friction="0.001" />
        <parent link="left_back_wheel" />
        <child link="left_back_roller_11" />
    </joint>
    <gazebo reference="left_back_roller_11">
        <mu1 value="2000.0" />
        <mu2 value="2000.0" />
        <kp value="1000000.0" />
        <kd value="100.0" />
        <material>Gazebo/Black</material>
    </gazebo>
    <!--  link  -->
    <link name="left_back_roller_12">
        <collision>
            <geometry>
                <sphere radius="0.009" />
            </geometry>
        </collision>
        <inertial>
            <mass value="0.036" />
            <inertia ixx="3128e-9" ixy="0.0" ixz="0.0" iyy="3128e-9" iyz="0.0" izz="3128e-9" />
            <origin xyz="0 0 0" rpy="0 0 0" />
        </inertial>
    </link>
    <joint name="left_back_roller_12_joint" type="continuous">
        <origin rpy="0 0 0" xyz="-0.06799955665875124 0 -0.0002455488002028931" />
        <axis xyz="0.002553370907877698 0.7071067811865476 -0.7071021710453214" />
        <dynamics damping="0.0" friction="0.001" />
        <parent link="left_back_wheel" />
        <child link="left_back_roller_12" />
    </joint>
    <gazebo reference="left_back_roller_12">
        <mu1 value="2000.0" />
        <mu2 value="2000.0" />
        <kp value="1000000.0" />
        <kd value="100.0" />
        <material>Gazebo/Black</material>
    </gazebo>
    <!--  link  -->
    <link name="left_back_roller_13">
        <collision>
            <geometry>
                <sphere radius="0.009" />
            </geometry>
        </collision>
        <inertial>
            <mass value="0.036" />
            <inertia ixx="3128e-9" ixy="0.0" ixz="0.0" iyy="3128e-9" iyz="0.0" izz="3128e-9" />
            <origin xyz="0 0 0" rpy="0 0 0" />
        </inertial>
    </link>
    <joint name="left_back_roller_13_joint" type="continuous">
        <origin rpy="0 0 0" xyz="-0.06272152946616016 0 -0.026268036497340295" />
        <axis xyz="0.2731515696430154 0.7071067811865476 -0.6522179237046135" />
        <dynamics damping="0.0" friction="0.001" />
        <parent link="left_back_wheel" />
        <child link="left_back_roller_13" />
    </joint>
    <gazebo reference="left_back_roller_13">
        <mu1 value="2000.0" />
        <mu2 value="2000.0" />
        <kp value="1000000.0" />
        <kd value="100.0" />
        <material>Gazebo/Black</material>
    </gazebo>
    <!--  link  -->
    <link name="left_back_roller_14">
        <collision>
            <geometry>
                <sphere radius="0.009" />
            </geometry>
        </collision>
        <inertial>
            <mass value="0.036" />
            <inertia ixx="3128e-9" ixy="0.0" ixz="0.0" iyy="3128e-9" iyz="0.0" izz="3128e-9" />
            <origin xyz="0 0 0" rpy="0 0 0" />
        </inertial>
    </link>
    <joint name="left_back_roller_14_joint" type="continuous">
        <origin rpy="0 0 0" xyz="-0.04788026716028342 0 -0.04828540169305713" />
        <axis xyz="0.5021019848452515 0.7071067811865476 -0.49788914108911725" />
        <dynamics damping="0.0" friction="0.001" />
        <parent link="left_back_wheel" />
        <child link="left_back_roller_14" />
    </joint>
    <gazebo reference="left_back_roller_14">
        <mu1 value="2000.0" />
        <mu2 value="2000.0" />
        <kp value="1000000.0" />
        <kd value="100.0" />
        <material>Gazebo/Black</material>
    </gazebo>
    <!--  link  -->
    <link name="left_back_roller_15">
        <collision>
            <geometry>
                <sphere radius="0.009" />
            </geometry>
        </collision>
        <inertial>
            <mass value="0.036" />
            <inertia ixx="3128e-9" ixy="0.0" ixz="0.0" iyy="3128e-9" iyz="0.0" izz="3128e-9" />
            <origin xyz="0 0 0" rpy="0 0 0" />
        </inertial>
    </link>
    <joint name="left_back_roller_15_joint" type="continuous">
        <origin rpy="0 0 0" xyz="-0.025738636766479847 0 -0.06294062739918639" />
        <axis xyz="0.6544962418544192 0.7071067811865476 -0.2676465381775779" />
        <dynamics damping="0.0" friction="0.001" />
        <parent link="left_back_wheel" />
        <child link="left_back_roller_15" />
    </joint>
    <gazebo reference="left_back_roller_15">
        <mu1 value="2000.0" />
        <mu2 value="2000.0" />
        <kp value="1000000.0" />
        <kd value="100.0" />
        <material>Gazebo/Black</material>
    </gazebo>
    <!--  link  -->
    <link name="right_back_wheel">
        <visual>
            <geometry>
                <mesh filename="package://sp_description/meshes/common/mecanum_wheel/right_mecanum_wheel.STL" />
            </geometry>
        </visual>
        <inertial>
            <mass value="0.4235" />
            <inertia ixx="4.122e-4" ixy="0.0" ixz="0.0" iyy="7.398e-4" iyz="0.0" izz="4.122e-4" />
        </inertial>
    </link>
    <!--  joint  -->
    <joint name="right_back_wheel_joint" type="revolute">
        <axis xyz="0 1 0" />
        <origin rpy="0 0 0" xyz="-0.19727 -0.223 0.000889" />
        <!--      limit not work while type="continuous"-->
        <limit effort="10" lower="-1e9" upper="1e9" velocity="70" />
        <dynamics damping="0.0" friction="0.05" />
        <parent link="base_link" />
        <child link="right_back_wheel" />
    </joint>
    <!--  link  -->
    <link name="right_back_roller_0">
        <collision>
            <geometry>
                <sphere radius="0.009" />
            </geometry>
        </collision>
        <inertial>
            <mass value="0.036" />
            <inertia ixx="3128e-9" ixy="0.0" ixz="0.0" iyy="3128e-9" iyz="0.0" izz="3128e-9" />
            <origin xyz="0 0 0" rpy="0 0 0" />
        </inertial>
    </link>
    <joint name="right_back_roller_0_joint" type="continuous">
        <origin rpy="0 0 0" xyz="4.163799117101001e-18 0 -0.068" />
        <axis xyz="0.7071067811865476 -0.7071067811865476 0.0" />
        <dynamics damping="0.0" friction="0.001" />
        <parent link="right_back_wheel" />
        <child link="right_back_roller_0" />
    </joint>
    <gazebo reference="right_back_roller_0">
        <mu1 value="2000.0" />
        <mu2 value="2000.0" />
        <kp value="1000000.0" />
        <kd value="100.0" />
        <material>Gazebo/Black</material>
    </gazebo>
    <!--  link  -->
    <link name="right_back_roller_1">
        <collision>
            <geometry>
                <sphere radius="0.009" />
            </geometry>
        </collision>
        <inertial>
            <mass value="0.036" />
            <inertia ixx="3128e-9" ixy="0.0" ixz="0.0" iyy="3128e-9" iyz="0.0" izz="3128e-9" />
            <origin xyz="0 0 0" rpy="0 0 0" />
        </inertial>
    </link>
    <joint name="right_back_roller_1_joint" type="continuous">
        <origin rpy="0 0 0" xyz="0.026041377055996056 0 -0.06281597472798972" />
        <axis xyz="0.653200024955946 -0.7071067811865476 0.27079462217250855" />
        <dynamics damping="0.0" friction="0.001" />
        <parent link="right_back_wheel" />
        <child link="right_back_roller_1" />
    </joint>
    <gazebo reference="right_back_roller_1">
        <mu1 value="2000.0" />
        <mu2 value="2000.0" />
        <kp value="1000000.0" />
        <kd value="100.0" />
        <material>Gazebo/Black</material>
    </gazebo>
    <!--  link  -->
    <link name="right_back_roller_2">
        <collision>
            <geometry>
                <sphere radius="0.009" />
            </geometry>
        </collision>
        <inertial>
            <mass value="0.036" />
            <inertia ixx="3128e-9" ixy="0.0" ixz="0.0" iyy="3128e-9" iyz="0.0" izz="3128e-9" />
            <origin xyz="0 0 0" rpy="0 0 0" />
        </inertial>
    </link>
    <joint name="right_back_roller_2_joint" type="continuous">
        <origin rpy="0 0 0" xyz="0.04811219067739703 0 -0.048054314147865956" />
        <axis xyz="0.49969899116506866 -0.7071067811865476 0.5003008277312888" />
        <dynamics damping="0.0" friction="0.001" />
        <parent link="right_back_wheel" />
        <child link="right_back_roller_2" />
    </joint>
    <gazebo reference="right_back_roller_2">
        <mu1 value="2000.0" />
        <mu2 value="2000.0" />
        <kp value="1000000.0" />
        <kd value="100.0" />
        <material>Gazebo/Black</material>
    </gazebo>
    <!--  link  -->
    <link name="right_back_roller_3">
        <collision>
            <geometry>
                <sphere radius="0.009" />
            </geometry>
        </collision>
        <inertial>
            <mass value="0.036" />
            <inertia ixx="3128e-9" ixy="0.0" ixz="0.0" iyy="3128e-9" iyz="0.0" izz="3128e-9" />
            <origin xyz="0 0 0" rpy="0 0 0" />
        </inertial>
    </link>
    <joint name="right_back_roller_3_joint" type="continuous">
        <origin rpy="0 0 0" xyz="0.06284727452340379 0 -0.025965748303869884" />
        <axis xyz="0.2700081868271984 -0.7071067811865476 0.6535254999204613" />
        <dynamics damping="0.0" friction="0.001" />
        <parent link="right_back_wheel" />
        <child link="right_back_roller_3" />
    </joint>
    <gazebo reference="right_back_roller_3">
        <mu1 value="2000.0" />
        <mu2 value="2000.0" />
        <kp value="1000000.0" />
        <kd value="100.0" />
        <material>Gazebo/Black</material>
    </gazebo>
    <!--  link  -->
    <link name="right_back_roller_4">
        <collision>
            <geometry>
                <sphere radius="0.009" />
            </geometry>
        </collision>
        <inertial>
            <mass value="0.036" />
            <inertia ixx="3128e-9" ixy="0.0" ixz="0.0" iyy="3128e-9" iyz="0.0" izz="3128e-9" />
            <origin xyz="0 0 0" rpy="0 0 0" />
        </inertial>
    </link>
    <joint name="right_back_roller_4_joint" type="continuous">
        <origin rpy="0 0 0" xyz="0.06799995073981367 0 8.184975818264867e-05" />
        <axis xyz="-0.0008511252801386329 -0.7071067811865476 0.7071062689481388" />
        <dynamics damping="0.0" friction="0.001" />
        <parent link="right_back_wheel" />
        <child link="right_back_roller_4" />
    </joint>
    <gazebo reference="right_back_roller_4">
        <mu1 value="2000.0" />
        <mu2 value="2000.0" />
        <kp value="1000000.0" />
        <kd value="100.0" />
        <material>Gazebo/Black</material>
    </gazebo>
    <!--  link  -->
    <link name="right_back_roller_5">
        <collision>
            <geometry>
                <sphere radius="0.009" />
            </geometry>
        </collision>
        <inertial>
            <mass value="0.036" />
            <inertia ixx="3128e-9" ixy="0.0" ixz="0.0" iyy="3128e-9" iyz="0.0" izz="3128e-9" />
            <origin xyz="0 0 0" rpy="0 0 0" />
        </inertial>
    </link>
    <joint name="right_back_roller_5_joint" type="continuous">
        <origin rpy="0 0 0" xyz="0.06278458392296919 0 0.026116968078619688" />
        <axis xyz="-0.27158066518271434 -0.7071067811865476 0.6528736036162853" />
        <dynamics damping="0.0" friction="0.001" />
        <parent link="right_back_wheel" />
        <child link="right_back_roller_5" />
    </joint>
    <gazebo reference="right_back_roller_5">
        <mu1 value="2000.0" />
        <mu2 value="2000.0" />
        <kp value="1000000.0" />
        <kd value="100.0" />
        <material>Gazebo/Black</material>
    </gazebo>
    <!--  link  -->
    <link name="right_back_roller_6">
        <collision>
            <geometry>
                <sphere radius="0.009" />
            </geometry>
        </collision>
        <inertial>
            <mass value="0.036" />
            <inertia ixx="3128e-9" ixy="0.0" ixz="0.0" iyy="3128e-9" iyz="0.0" izz="3128e-9" />
            <origin xyz="0 0 0" rpy="0 0 0" />
        </inertial>
    </link>
    <joint name="right_back_roller_6_joint" type="continuous">
        <origin rpy="0 0 0" xyz="0.0479963679958505 0 0.04816999750059053" />
        <axis xyz="-0.5009019394471561 -0.7071067811865476 0.499096430620454" />
        <dynamics damping="0.0" friction="0.001" />
        <parent link="right_back_wheel" />
        <child link="right_back_roller_6" />
    </joint>
    <gazebo reference="right_back_roller_6">
        <mu1 value="2000.0" />
        <mu2 value="2000.0" />
        <kp value="1000000.0" />
        <kd value="100.0" />
        <material>Gazebo/Black</material>
    </gazebo>
    <!--  link  -->
    <link name="right_back_roller_7">
        <collision>
            <geometry>
                <sphere radius="0.009" />
            </geometry>
        </collision>
        <inertial>
            <mass value="0.036" />
            <inertia ixx="3128e-9" ixy="0.0" ixz="0.0" iyy="3128e-9" iyz="0.0" izz="3128e-9" />
            <origin xyz="0 0 0" rpy="0 0 0" />
        </inertial>
    </link>
    <joint name="right_back_roller_7_joint" type="continuous">
        <origin rpy="0 0 0" xyz="0.0258900819318143 0 0.06287848326386335" />
        <axis xyz="-0.6538500280382736 -0.7071067811865476 0.2692213602861942" />
        <dynamics damping="0.0" friction="0.001" />
        <parent link="right_back_wheel" />
        <child link="right_back_roller_7" />
    </joint>
    <gazebo reference="right_back_roller_7">
        <mu1 value="2000.0" />
        <mu2 value="2000.0" />
        <kp value="1000000.0" />
        <kd value="100.0" />
        <material>Gazebo/Black</material>
    </gazebo>
    <!--  link  -->
    <link name="right_back_roller_8">
        <collision>
            <geometry>
                <sphere radius="0.009" />
            </geometry>
        </collision>
        <inertial>
            <mass value="0.036" />
            <inertia ixx="3128e-9" ixy="0.0" ixz="0.0" iyy="3128e-9" iyz="0.0" izz="3128e-9" />
            <origin xyz="0 0 0" rpy="0 0 0" />
        </inertial>
    </link>
    <joint name="right_back_roller_8_joint" type="continuous">
        <origin rpy="0 0 0" xyz="-0.00016369939777898906 0 0.06799980295932605" />
        <axis xyz="-0.7071047322336546 -0.7071067811865476 -0.0017022493271422689" />
        <dynamics damping="0.0" friction="0.001" />
        <parent link="right_back_wheel" />
        <child link="right_back_roller_8" />
    </joint>
    <gazebo reference="right_back_roller_8">
        <mu1 value="2000.0" />
        <mu2 value="2000.0" />
        <kp value="1000000.0" />
        <kd value="100.0" />
        <material>Gazebo/Black</material>
    </gazebo>
    <!--  link  -->
    <link name="right_back_roller_9">
        <collision>
            <geometry>
                <sphere radius="0.009" />
            </geometry>
        </collision>
        <inertial>
            <mass value="0.036" />
            <inertia ixx="3128e-9" ixy="0.0" ixz="0.0" iyy="3128e-9" iyz="0.0" izz="3128e-9" />
            <origin xyz="0 0 0" rpy="0 0 0" />
        </inertial>
    </link>
    <joint name="right_back_roller_9_joint" type="continuous">
        <origin rpy="0 0 0" xyz="-0.026192521262222306 0 0.06275310215382211" />
        <axis xyz="-0.6525462363744081 -0.7071067811865476 -0.2723663147189738" />
        <dynamics damping="0.0" friction="0.001" />
        <parent link="right_back_wheel" />
        <child link="right_back_roller_9" />
    </joint>
    <gazebo reference="right_back_roller_9">
        <mu1 value="2000.0" />
        <mu2 value="2000.0" />
        <kp value="1000000.0" />
        <kd value="100.0" />
        <material>Gazebo/Black</material>
    </gazebo>
    <!--  link  -->
    <link name="right_back_roller_10">
        <collision>
            <geometry>
                <sphere radius="0.009" />
            </geometry>
        </collision>
        <inertial>
            <mass value="0.036" />
            <inertia ixx="3128e-9" ixy="0.0" ixz="0.0" iyy="3128e-9" iyz="0.0" izz="3128e-9" />
            <origin xyz="0 0 0" rpy="0 0 0" />
        </inertial>
    </link>
    <joint name="right_back_roller_10_joint" type="continuous">
        <origin rpy="0 0 0" xyz="-0.048227734533694264 0 0.04793835230530472" />
        <axis xyz="-0.49849314697045194 -0.7071067811865476 -0.5015023254417625" />
        <dynamics damping="0.0" friction="0.001" />
        <parent link="right_back_wheel" />
        <child link="right_back_roller_10" />
    </joint>
    <gazebo reference="right_back_roller_10">
        <mu1 value="2000.0" />
        <mu2 value="2000.0" />
        <kp value="1000000.0" />
        <kd value="100.0" />
        <material>Gazebo/Black</material>
    </gazebo>
    <!--  link  -->
    <link name="right_back_roller_11">
        <collision>
            <geometry>
                <sphere radius="0.009" />
            </geometry>
        </collision>
        <inertial>
            <mass value="0.036" />
            <inertia ixx="3128e-9" ixy="0.0" ixz="0.0" iyy="3128e-9" iyz="0.0" izz="3128e-9" />
            <origin xyz="0 0 0" rpy="0 0 0" />
        </inertial>
    </link>
    <joint name="right_back_roller_11_joint" type="continuous">
        <origin rpy="0 0 0" xyz="-0.06290960090415226 0 0.02581437804945697" />
        <axis xyz="-0.2684341436894733 -0.7071067811865476 -0.6541736088391974" />
        <dynamics damping="0.0" friction="0.001" />
        <parent link="right_back_wheel" />
        <child link="right_back_roller_11" />
    </joint>
    <gazebo reference="right_back_roller_11">
        <mu1 value="2000.0" />
        <mu2 value="2000.0" />
        <kp value="1000000.0" />
        <kd value="100.0" />
        <material>Gazebo/Black</material>
    </gazebo>
    <!--  link  -->
    <link name="right_back_roller_12">
        <collision>
            <geometry>
                <sphere radius="0.009" />
            </geometry>
        </collision>
        <inertial>
            <mass value="0.036" />
            <inertia ixx="3128e-9" ixy="0.0" ixz="0.0" iyy="3128e-9" iyz="0.0" izz="3128e-9" />
            <origin xyz="0 0 0" rpy="0 0 0" />
        </inertial>
    </link>
    <joint name="right_back_roller_12_joint" type="continuous">
        <origin rpy="0 0 0" xyz="-0.06799955665875124 0 -0.0002455488002028931" />
        <axis xyz="0.002553370907877698 -0.7071067811865476 -0.7071021710453214" />
        <dynamics damping="0.0" friction="0.001" />
        <parent link="right_back_wheel" />
        <child link="right_back_roller_12" />
    </joint>
    <gazebo reference="right_back_roller_12">
        <mu1 value="2000.0" />
        <mu2 value="2000.0" />
        <kp value="1000000.0" />
        <kd value="100.0" />
        <material>Gazebo/Black</material>
    </gazebo>
    <!--  link  -->
    <link name="right_back_roller_13">
        <collision>
            <geometry>
                <sphere radius="0.009" />
            </geometry>
        </collision>
        <inertial>
            <mass value="0.036" />
            <inertia ixx="3128e-9" ixy="0.0" ixz="0.0" iyy="3128e-9" iyz="0.0" izz="3128e-9" />
            <origin xyz="0 0 0" rpy="0 0 0" />
        </inertial>
    </link>
    <joint name="right_back_roller_13_joint" type="continuous">
        <origin rpy="0 0 0" xyz="-0.06272152946616016 0 -0.026268036497340295" />
        <axis xyz="0.2731515696430154 -0.7071067811865476 -0.6522179237046135" />
        <dynamics damping="0.0" friction="0.001" />
        <parent link="right_back_wheel" />
        <child link="right_back_roller_13" />
    </joint>
    <gazebo reference="right_back_roller_13">
        <mu1 value="2000.0" />
        <mu2 value="2000.0" />
        <kp value="1000000.0" />
        <kd value="100.0" />
        <material>Gazebo/Black</material>
    </gazebo>
    <!--  link  -->
    <link name="right_back_roller_14">
        <collision>
            <geometry>
                <sphere radius="0.009" />
            </geometry>
        </collision>
        <inertial>
            <mass value="0.036" />
            <inertia ixx="3128e-9" ixy="0.0" ixz="0.0" iyy="3128e-9" iyz="0.0" izz="3128e-9" />
            <origin xyz="0 0 0" rpy="0 0 0" />
        </inertial>
    </link>
    <joint name="right_back_roller_14_joint" type="continuous">
        <origin rpy="0 0 0" xyz="-0.04788026716028342 0 -0.04828540169305713" />
        <axis xyz="0.5021019848452515 -0.7071067811865476 -0.49788914108911725" />
        <dynamics damping="0.0" friction="0.001" />
        <parent link="right_back_wheel" />
        <child link="right_back_roller_14" />
    </joint>
    <gazebo reference="right_back_roller_14">
        <mu1 value="2000.0" />
        <mu2 value="2000.0" />
        <kp value="1000000.0" />
        <kd value="100.0" />
        <material>Gazebo/Black</material>
    </gazebo>
    <!--  link  -->
    <link name="right_back_roller_15">
        <collision>
            <geometry>
                <sphere radius="0.009" />
            </geometry>
        </collision>
        <inertial>
            <mass value="0.036" />
            <inertia ixx="3128e-9" ixy="0.0" ixz="0.0" iyy="3128e-9" iyz="0.0" izz="3128e-9" />
            <origin xyz="0 0 0" rpy="0 0 0" />
        </inertial>
    </link>
    <joint name="right_back_roller_15_joint" type="continuous">
        <origin rpy="0 0 0" xyz="-0.025738636766479847 0 -0.06294062739918639" />
        <axis xyz="0.6544962418544192 -0.7071067811865476 -0.2676465381775779" />
        <dynamics damping="0.0" friction="0.001" />
        <parent link="right_back_wheel" />
        <child link="right_back_roller_15" />
    </joint>
    <gazebo reference="right_back_roller_15">
        <mu1 value="2000.0" />
        <mu2 value="2000.0" />
        <kp value="1000000.0" />
        <kd value="100.0" />
        <material>Gazebo/Black</material>
    </gazebo>
    <transmission name="left_front_wheel_trans">
        <type>transmission_interface/SimpleTransmission</type>
        <actuator name="left_front_wheel_motor">
            <hardwareInterface>hardware_interface/EffortJointInterface</hardwareInterface>
            <mechanicalReduction>19.2032</mechanicalReduction>
        </actuator>
        <joint name="left_front_wheel_joint">
            <hardwareInterface>hardware_interface/EffortJointInterface</hardwareInterface>
        </joint>
    </transmission>
    <transmission name="right_front_wheel_trans">
        <type>transmission_interface/SimpleTransmission</type>
        <actuator name="right_front_wheel_motor">
            <hardwareInterface>hardware_interface/EffortJointInterface</hardwareInterface>
            <mechanicalReduction>-19.2032</mechanicalReduction>
        </actuator>
        <joint name="right_front_wheel_joint">
            <hardwareInterface>hardware_interface/EffortJointInterface</hardwareInterface>
        </joint>
    </transmission>
    <transmission name="left_back_wheel_trans">
        <type>transmission_interface/SimpleTransmission</type>
        <actuator name="left_back_wheel_motor">
            <hardwareInterface>hardware_interface/EffortJointInterface</hardwareInterface>
            <mechanicalReduction>19.2032</mechanicalReduction>
        </actuator>
        <joint name="left_back_wheel_joint">
            <hardwareInterface>hardware_interface/EffortJointInterface</hardwareInterface>
        </joint>
    </transmission>
    <transmission name="right_back_wheel_trans">
        <type>transmission_interface/SimpleTransmission</type>
        <actuator name="right_back_wheel_motor">
            <hardwareInterface>hardware_interface/EffortJointInterface</hardwareInterface>
            <mechanicalReduction>-19.2032</mechanicalReduction>
        </actuator>
        <joint name="right_back_wheel_joint">
            <hardwareInterface>hardware_interface/EffortJointInterface</hardwareInterface>
        </joint>
    </transmission>
    <link name="fpv_base_link">
        <inertial>
            <origin rpy="0 0 0" xyz="-0.00792936871652137 0.000141142989662449 0.260766462339412" />
            <mass value="0.317542464634811" />
            <inertia ixx="0.000965471374037066" ixy="9.93131375188562E-08" ixz="-4.59210283751836E-07" iyy="0.000974644385413349" iyz="-2.29555782023746E-07" izz="3.90092448204564E-05" />
        </inertial>
        <visual>
            <origin rpy="0 0 0" xyz="0 0 0" />
            <geometry>
                <mesh filename="package://sp_description/meshes/fpv_module/fpv_base_link.STL" />
            </geometry>
            <material name="">
                <color rgba="0.898039215686275 0.917647058823529 0.929411764705882 1" />
            </material>
        </visual>
        <collision>
            <origin rpy="0 0 0" xyz="0 0 0" />
            <geometry>
                <mesh filename="package://sp_description/meshes/fpv_module/fpv_base_link.STL" />
            </geometry>
        </collision>
    </link>
    <link name="mast">
        <inertial>
            <origin rpy="0 0 0" xyz="-0.0584010828086417 -0.00159000441041939 0.273527091290577" />
            <mass value="0.596769834435929" />
            <inertia ixx="0.00358416489838144" ixy="8.93424511469642E-06" ixz="-8.40259560018718E-08" iyy="0.00396184957629145" iyz="-5.81196895554224E-09" izz="0.00062348701535612" />
        </inertial>
        <visual>
            <origin rpy="0 0 0" xyz="0 0 0" />
            <geometry>
                <mesh filename="package://sp_description/meshes/fpv_module/mast.STL" />
            </geometry>
            <material name="">
                <color rgba="0.823529411764706 0.870588235294118 0.980392156862745 1" />
            </material>
        </visual>
        <collision>
            <origin rpy="0 0 0" xyz="0 0 0" />
            <geometry>
                <mesh filename="package://sp_description/meshes/fpv_module/mast.STL" />
            </geometry>
        </collision>
    </link>
    <joint name="mast_joint" type="prismatic">
        <origin rpy="0 0 0" xyz="0 0 0" />
        <parent link="fpv_base_link" />
        <child link="mast" />
        <axis xyz="0 0 1" />
        <limit effort="50" lower="0" upper="0.235" velocity="0.8" />
    </joint>
    <link name="fpv_yaw">
        <inertial>
            <origin rpy="0 0 0" xyz="-0.0092103 0.044084 0.018323" />
            <mass value="0.060612" />
            <inertia ixx="9.0201E-03" ixy="1.0141E-04" ixz="5.7277E-05" iyy="1.4587E-02" iyz="3.2725E-04" izz="1.9433E-02" />
        </inertial>
        <visual>
            <origin rpy="0 0 0" xyz="0 0 0" />
            <geometry>
                <mesh filename="package://sp_description/meshes/fpv_module/fpv_yaw.STL" />
            </geometry>
            <material name="">
                <color rgba="0.49804 0.49804 0.49804 1" />
            </material>
        </visual>
        <collision>
            <origin rpy="0 0 0" xyz="0 0 0" />
            <geometry>
                <mesh filename="package://sp_description/meshes/fpv_module/fpv_yaw.STL" />
            </geometry>
        </collision>
    </link>
    <joint name="fpv_yaw_joint" type="revolute">
        <origin rpy="0 0 -1.5707963267949" xyz="0 -0.0285 0.3853" />
        <parent link="mast" />
        <child link="fpv_yaw" />
        <axis xyz="0 0 1" />
        <limit effort="1.3" lower="-1.5708" upper="1.5708" velocity="6" />
    </joint>
    <link name="fpv_pitch">
        <inertial>
            <origin rpy="0 0 0" xyz="-0.017448 -0.055509 -4.0539E-05" />
            <mass value="0.79082" />
            <inertia ixx="0.00090446" ixy="-1.0482E-03" ixz="3.6509E-04" iyy="0.0011756" iyz="8.4354E-05" izz="0.0009281" />
        </inertial>
        <visual>
            <origin rpy="0 0 0" xyz="0 0 0" />
            <geometry>
                <mesh filename="package://sp_description/meshes/fpv_module/fpv_pitch.STL" />
            </geometry>
            <material name="">
                <color rgba="1 1 1 1" />
            </material>
        </visual>
        <collision>
            <origin rpy="0 0 0" xyz="0 0 0" />
            <geometry>
                <mesh filename="package://sp_description/meshes/fpv_module/fpv_pitch.STL" />
            </geometry>
        </collision>
    </link>
    <joint name="fpv_pitch_joint" type="revolute">
        <origin rpy="-1.5707963267949 0 3.14159265358979" xyz="0 0.000700000000000704 0.0275" />
        <parent link="fpv_yaw" />
        <child link="fpv_pitch" />
        <axis xyz="0 0 1" />
        <limit effort="1.3" lower="-1.5708" upper="1.5708" velocity="6" />
    </joint>
    <!--Transmission-->
    <transmission name="trans_mast_joint">
        <type>transmission_interface/SimpleTransmission</type>
        <actuator name="mast_joint_motor">
            <mechanicalReduction>1</mechanicalReduction>
            <hardwareInterface>hardware_interface/EffortJointInterface</hardwareInterface>
        </actuator>
        <joint name="mast_joint">
            <hardwareInterface>hardware_interface/PositionJointInterface</hardwareInterface>
        </joint>
    </transmission>
    <transmission name="trans_fpv_yaw_joint">
        <type>transmission_interface/SimpleTransmission</type>
        <actuator name="fpv_yaw_joint_motor">
            <mechanicalReduction>1</mechanicalReduction>
            <hardwareInterface>hardware_interface/EffortJointInterface</hardwareInterface>
        </actuator>
        <joint name="fpv_yaw_joint">
            <hardwareInterface>hardware_interface/PositionJointInterface</hardwareInterface>
        </joint>
    </transmission>
    <transmission name="trans_fpv_pitch_joint">
        <type>transmission_interface/SimpleTransmission</type>
        <actuator name="fpv_pitch_joint_motor">
            <mechanicalReduction>1</mechanicalReduction>
            <hardwareInterface>hardware_interface/EffortJointInterface</hardwareInterface>
        </actuator>
        <joint name="fpv_pitch_joint">
            <hardwareInterface>hardware_interface/PositionJointInterface</hardwareInterface>
        </joint>
    </transmission>
    <gazebo reference="fpv_pitch">
        <material>Gazebo/Black</material>
    </gazebo>
    <link name="arm_base_link">
        <inertial>
            <origin rpy="0 0 0" xyz="0.000191990525551576 -0.0379959432267828 -0.0188711762736671" />
            <mass value="0.395354400864979" />
            <inertia ixx="0.000467726564216232" ixy="-8.67714690501313E-09" ixz="4.31198411045603E-09" iyy="0.000307127917627802" iyz="-2.40360210665882E-08" izz="0.000768655424904835" />
        </inertial>
        <visual>
            <origin rpy="0 0 0" xyz="0 0 0" />
            <geometry>
                <mesh filename="package://sp_description/meshes/engineer_manipulator/arm_base_link.STL" />
            </geometry>
            <material name="">
                <color rgba="0.333333333333333 0.333333333333333 0.333333333333333 1" />
            </material>
        </visual>
        <collision>
            <origin rpy="0 0 0" xyz="0 0 0" />
            <geometry>
                <mesh filename="package://sp_description/meshes/engineer_manipulator/arm_base_link.STL" />
            </geometry>
        </collision>
    </link>
    <link name="link1">
        <inertial>
            <origin rpy="0 0 0" xyz="-0.00519778790831543 -0.000376162564114741 0.051547696306667" />
            <mass value="0.376683384729688" />
            <inertia ixx="0.000845918540984844" ixy="1.12279959742112E-07" ixz="9.01688301312492E-07" iyy="0.000489021055809623" iyz="7.41749753688042E-07" izz="0.000437357298424943" />
        </inertial>
        <visual>
            <origin rpy="0 0 0" xyz="0 0 0" />
            <geometry>
                <mesh filename="package://sp_description/meshes/engineer_manipulator/link1.STL" />
            </geometry>
            <material name="">
                <color rgba="0.333333333333333 0.333333333333333 0.333333333333333 1" />
            </material>
        </visual>
        <collision>
            <origin rpy="0 0 0" xyz="0 0 0" />
            <geometry>
                <mesh filename="package://sp_description/meshes/engineer_manipulator/link1.STL" />
            </geometry>
        </collision>
    </link>
    <joint name="joint1" type="revolute">
        <origin rpy="0 0 0" xyz="0 0 0" />
        <parent link="arm_base_link" />
        <child link="link1" />
        <axis xyz="0 0 1" />
        <limit effort="20" lower="-3.14" upper="3.14" velocity="5" />
    </joint>
    <link name="link2">
        <inertial>
            <origin rpy="0 0 0" xyz="0.050580281880749 1.15493250689451E-05 -0.0210030003469162" />
            <mass value="0.759246586931641" />
            <inertia ixx="0.000476310073091113" ixy="7.29764960891789E-07" ixz="1.10638206714342E-07" iyy="0.000991153032504733" iyz="1.21515857857987E-06" izz="0.00140495471373823" />
        </inertial>
        <visual>
            <origin rpy="0 0 0" xyz="0 0 0" />
            <geometry>
                <mesh filename="package://sp_description/meshes/engineer_manipulator/link2.STL" />
            </geometry>
            <material name="">
                <color rgba="0.333333333333333 0.333333333333333 0.333333333333333 1" />
            </material>
        </visual>
        <collision>
            <origin rpy="0 0 0" xyz="0 0 0" />
            <geometry>
                <mesh filename="package://sp_description/meshes/engineer_manipulator/link2.STL" />
            </geometry>
        </collision>
    </link>
    <joint name="joint2" type="revolute">
        <origin rpy="0 -1.5708 0" xyz="-0.022 0 0.065" />
        <parent link="link1" />
        <child link="link2" />
        <axis xyz="0 0 1" />
        <limit effort="20" lower="-1.70" upper="1.70" velocity="5" />
    </joint>
    <link name="link3">
        <inertial>
            <origin rpy="0 0 0" xyz="0.0245084498465696 0.00738609929531111 0.00192882422441409" />
            <mass value="0.728531979995667" />
            <inertia ixx="0.000532458424182733" ixy="4.53824196718106E-06" ixz="2.04205314034E-06" iyy="0.000532510298817301" iyz="-1.81917766175563E-06" izz="0.000337461792942105" />
        </inertial>
        <visual>
            <origin rpy="0 0 0" xyz="0 0 0" />
            <geometry>
                <mesh filename="package://sp_description/meshes/engineer_manipulator/link3.STL" />
            </geometry>
            <material name="">
                <color rgba="0.333333333333333 0.333333333333333 0.333333333333333 1" />
            </material>
        </visual>
        <collision>
            <origin rpy="0 0 0" xyz="0 0 0" />
            <geometry>
                <mesh filename="package://sp_description/meshes/engineer_manipulator/link3.STL" />
            </geometry>
        </collision>
    </link>
    <joint name="joint3" type="revolute">
        <origin rpy="0 0 0" xyz="0.2 0 0" />
        <parent link="link2" />
        <child link="link3" />
        <axis xyz="0 0 -1" />
        <limit effort="20" lower="-2.80" upper="2.80" velocity="5" />
    </joint>
    <link name="link4">
        <inertial>
            <origin rpy="0 0 0" xyz="-4.15720177258799E-05 0.00320298874916644 0.00671219827123581" />
            <mass value="0.227354423602744" />
            <inertia ixx="0.00017836251229402" ixy="-4.3119850715308E-09" ixz="5.53767841869846E-10" iyy="0.000191169545672061" iyz="2.40360190145244E-08" izz="0.000327594643478463" />
        </inertial>
        <visual>
            <origin rpy="0 0 0" xyz="0 0 0" />
            <geometry>
                <mesh filename="package://sp_description/meshes/engineer_manipulator/link4.STL" />
            </geometry>
            <material name="">
                <color rgba="0.823529411764706 0.870588235294118 0.980392156862745 1" />
            </material>
        </visual>
        <collision>
            <origin rpy="0 0 0" xyz="0 0 0" />
            <geometry>
                <mesh filename="package://sp_description/meshes/engineer_manipulator/link4.STL" />
            </geometry>
        </collision>
    </link>
    <joint name="joint4" type="revolute">
        <origin rpy="0 1.5708 0" xyz="0.13435 0 0" />
        <parent link="link3" />
        <child link="link4" />
        <axis xyz="0 0 1" />
        <limit effort="20" lower="-3.14" upper="3.14" velocity="5" />
    </joint>
    <link name="link5">
        <inertial>
            <origin rpy="0 0 0" xyz="0.0448570389290742 7.50749423052491E-05 -0.0145612470233759" />
            <mass value="0.0807348568456161" />
            <inertia ixx="3.32465515141751E-05" ixy="-2.40360210662102E-08" ixz="-4.31198411042277E-09" iyy="2.26337327690657E-05" iyz="5.39577655542099E-10" izz="2.31477934401328E-05" />
        </inertial>
        <visual>
            <origin rpy="0 0 0" xyz="0 0 0" />
            <geometry>
                <mesh filename="package://sp_description/meshes/engineer_manipulator/link5.STL" />
            </geometry>
            <material name="">
                <color rgba="0.792156862745098 0.819607843137255 0.933333333333333 1" />
            </material>
        </visual>
        <collision>
            <origin rpy="0 0 0" xyz="0 0 0" />
            <geometry>
                <mesh filename="package://sp_description/meshes/engineer_manipulator/link5.STL" />
            </geometry>
        </collision>
    </link>
    <joint name="joint5" type="revolute">
        <origin rpy="1.5708 -1.5708 0" xyz="0 -0.025 0.05" />
        <parent link="link4" />
        <child link="link5" />
        <axis xyz="0 0 1" />
        <limit effort="20" lower="-2.10" upper="2.10" velocity="5" />
    </joint>
    <link name="link6">
        <inertial>
            <origin rpy="0 0 0" xyz="-4.3008E-05 -0.0079055 -0.013813" />
            <mass value="0.25692" />
            <inertia ixx="0.00021993" ixy="-4.1694E-10" ixz="9.6881E-12" iyy="0.0002338" iyz="-4.2941E-10" izz="6.2378E-05" />
        </inertial>
        <visual>
            <origin rpy="0 0 0" xyz="0 0 0" />
            <geometry>
                <mesh filename="package://sp_description/meshes/engineer_manipulator/link6.STL" />
            </geometry>
            <material name="">
                <color rgba="0.49804 0.49804 0.49804 1" />
            </material>
        </visual>
        <collision>
            <origin rpy="0 0 0" xyz="0 0 0" />
            <geometry>
                <mesh filename="package://sp_description/meshes/engineer_manipulator/link6.STL" />
            </geometry>
        </collision>
    </link>
    <joint name="joint6" type="revolute">
        <origin rpy="-1.5708 0.05753 -1.5708" xyz="0.096 0 -0.03" />
        <parent link="link5" />
        <child link="link6" />
        <axis xyz="0 0 1" />
        <limit effort="20" lower="-1.57" upper="1.57" velocity="5" />
    </joint>
    <link name="link7">
        <inertial>
            <origin rpy="0 0 0" xyz="1.578E-05 -0.032317 -0.028954" />
            <mass value="0.20296" />
            <inertia ixx="9.9818E-05" ixy="-7.9536E-08" ixz="-4.5421E-10" iyy="0.00015416" iyz="-4.0049E-09" izz="0.00019962" />
        </inertial>
        <visual>
            <origin rpy="0 0 0" xyz="0 0 0" />
            <geometry>
                <mesh filename="package://sp_description/meshes/engineer_manipulator/link7.STL" />
            </geometry>
            <material name="">
                <color rgba="0.33333 0.33333 0.33333 1" />
            </material>
        </visual>
        <collision>
            <origin rpy="0 0 0" xyz="0 0 0" />
            <geometry>
                <mesh filename="package://sp_description/meshes/engineer_manipulator/link7.STL" />
            </geometry>
        </collision>
    </link>
    <joint name="joint7" type="prismatic">
        <origin rpy="0 0 0" xyz="0 0 0.025373" />
        <parent link="link6" />
        <child link="link7" />
        <axis xyz="0 0 -1" />
        <limit effort="20" lower="-0.075" upper="0" velocity="5" />
    </joint>
    <link name="vacuum_gripper" />
    <joint name="vacuum_gripper_joint" type="fixed">
        <origin rpy="0 0 0" xyz="0 0 0.054" />
        <parent link="link7" />
        <child link="vacuum_gripper" />
        <axis xyz="0 0 1" />
    </joint>
    <joint name="joint_arm2body" type="fixed">
        <axis xyz="0 0 1" />
        <origin rpy="0 0 -1.5708" xyz="0.022 0.166 0.228" />
        <parent link="base_link" />
        <child link="arm_base_link" />
    </joint>
    <joint name="joint_mast2body" type="fixed">
        <axis xyz="0 0 1" />
        <origin rpy="0 0 1.5708" xyz="-0.2295 -0.0825 0.0177" />
        <parent link="base_link" />
        <child link="fpv_base_link" />
    </joint>
    <gazebo>
        <plugin filename="libgazebo_ros_control.so" name="gazebo_ros_control">
            <robotNamespace>/</robotNamespace>
        </plugin>
        <plugin filename="libchassis_controller.so" name="chassis_controller">
            <robotNamespace>/</robotNamespace>
        </plugin>
        <plugin filename="libgimbal_controller.so" name="gimbal_controller">
            <robotNamespace>/</robotNamespace>
        </plugin>
    </gazebo>
    <transmission name="trans_left_front_roller_0_joint">
        <type>transmission_interface/SimpleTransmission</type>
        <joint name="left_front_roller_0_joint">
            <hardwareInterface>hardware_interface/EffortJointInterface</hardwareInterface>
        </joint>
        <actuator name="left_front_roller_0_joint_motor">
            <hardwareInterface>hardware_interface/EffortJointInterface</hardwareInterface>
            <mechanicalReduction>1</mechanicalReduction>
        </actuator>
    </transmission>
    <transmission name="trans_left_front_roller_1_joint">
        <type>transmission_interface/SimpleTransmission</type>
        <joint name="left_front_roller_1_joint">
            <hardwareInterface>hardware_interface/EffortJointInterface</hardwareInterface>
        </joint>
        <actuator name="left_front_roller_1_joint_motor">
            <hardwareInterface>hardware_interface/EffortJointInterface</hardwareInterface>
            <mechanicalReduction>1</mechanicalReduction>
        </actuator>
    </transmission>
    <transmission name="trans_left_front_roller_2_joint">
        <type>transmission_interface/SimpleTransmission</type>
        <joint name="left_front_roller_2_joint">
            <hardwareInterface>hardware_interface/EffortJointInterface</hardwareInterface>
        </joint>
        <actuator name="left_front_roller_2_joint_motor">
            <hardwareInterface>hardware_interface/EffortJointInterface</hardwareInterface>
            <mechanicalReduction>1</mechanicalReduction>
        </actuator>
    </transmission>
    <transmission name="trans_left_front_roller_3_joint">
        <type>transmission_interface/SimpleTransmission</type>
        <joint name="left_front_roller_3_joint">
            <hardwareInterface>hardware_interface/EffortJointInterface</hardwareInterface>
        </joint>
        <actuator name="left_front_roller_3_joint_motor">
            <hardwareInterface>hardware_interface/EffortJointInterface</hardwareInterface>
            <mechanicalReduction>1</mechanicalReduction>
        </actuator>
    </transmission>
    <transmission name="trans_left_front_roller_4_joint">
        <type>transmission_interface/SimpleTransmission</type>
        <joint name="left_front_roller_4_joint">
            <hardwareInterface>hardware_interface/EffortJointInterface</hardwareInterface>
        </joint>
        <actuator name="left_front_roller_4_joint_motor">
            <hardwareInterface>hardware_interface/EffortJointInterface</hardwareInterface>
            <mechanicalReduction>1</mechanicalReduction>
        </actuator>
    </transmission>
    <transmission name="trans_left_front_roller_5_joint">
        <type>transmission_interface/SimpleTransmission</type>
        <joint name="left_front_roller_5_joint">
            <hardwareInterface>hardware_interface/EffortJointInterface</hardwareInterface>
        </joint>
        <actuator name="left_front_roller_5_joint_motor">
            <hardwareInterface>hardware_interface/EffortJointInterface</hardwareInterface>
            <mechanicalReduction>1</mechanicalReduction>
        </actuator>
    </transmission>
    <transmission name="trans_left_front_roller_6_joint">
        <type>transmission_interface/SimpleTransmission</type>
        <joint name="left_front_roller_6_joint">
            <hardwareInterface>hardware_interface/EffortJointInterface</hardwareInterface>
        </joint>
        <actuator name="left_front_roller_6_joint_motor">
            <hardwareInterface>hardware_interface/EffortJointInterface</hardwareInterface>
            <mechanicalReduction>1</mechanicalReduction>
        </actuator>
    </transmission>
    <transmission name="trans_left_front_roller_7_joint">
        <type>transmission_interface/SimpleTransmission</type>
        <joint name="left_front_roller_7_joint">
            <hardwareInterface>hardware_interface/EffortJointInterface</hardwareInterface>
        </joint>
        <actuator name="left_front_roller_7_joint_motor">
            <hardwareInterface>hardware_interface/EffortJointInterface</hardwareInterface>
            <mechanicalReduction>1</mechanicalReduction>
        </actuator>
    </transmission>
    <transmission name="trans_left_front_roller_8_joint">
        <type>transmission_interface/SimpleTransmission</type>
        <joint name="left_front_roller_8_joint">
            <hardwareInterface>hardware_interface/EffortJointInterface</hardwareInterface>
        </joint>
        <actuator name="left_front_roller_8_joint_motor">
            <hardwareInterface>hardware_interface/EffortJointInterface</hardwareInterface>
            <mechanicalReduction>1</mechanicalReduction>
        </actuator>
    </transmission>
    <transmission name="trans_left_front_roller_9_joint">
        <type>transmission_interface/SimpleTransmission</type>
        <joint name="left_front_roller_9_joint">
            <hardwareInterface>hardware_interface/EffortJointInterface</hardwareInterface>
        </joint>
        <actuator name="left_front_roller_9_joint_motor">
            <hardwareInterface>hardware_interface/EffortJointInterface</hardwareInterface>
            <mechanicalReduction>1</mechanicalReduction>
        </actuator>
    </transmission>
    <transmission name="trans_left_front_roller_10_joint">
        <type>transmission_interface/SimpleTransmission</type>
        <joint name="left_front_roller_10_joint">
            <hardwareInterface>hardware_interface/EffortJointInterface</hardwareInterface>
        </joint>
        <actuator name="left_front_roller_10_joint_motor">
            <hardwareInterface>hardware_interface/EffortJointInterface</hardwareInterface>
            <mechanicalReduction>1</mechanicalReduction>
        </actuator>
    </transmission>
    <transmission name="trans_left_front_roller_11_joint">
        <type>transmission_interface/SimpleTransmission</type>
        <joint name="left_front_roller_11_joint">
            <hardwareInterface>hardware_interface/EffortJointInterface</hardwareInterface>
        </joint>
        <actuator name="left_front_roller_11_joint_motor">
            <hardwareInterface>hardware_interface/EffortJointInterface</hardwareInterface>
            <mechanicalReduction>1</mechanicalReduction>
        </actuator>
    </transmission>
    <transmission name="trans_left_front_roller_12_joint">
        <type>transmission_interface/SimpleTransmission</type>
        <joint name="left_front_roller_12_joint">
            <hardwareInterface>hardware_interface/EffortJointInterface</hardwareInterface>
        </joint>
        <actuator name="left_front_roller_12_joint_motor">
            <hardwareInterface>hardware_interface/EffortJointInterface</hardwareInterface>
            <mechanicalReduction>1</mechanicalReduction>
        </actuator>
    </transmission>
    <transmission name="trans_left_front_roller_13_joint">
        <type>transmission_interface/SimpleTransmission</type>
        <joint name="left_front_roller_13_joint">
            <hardwareInterface>hardware_interface/EffortJointInterface</hardwareInterface>
        </joint>
        <actuator name="left_front_roller_13_joint_motor">
            <hardwareInterface>hardware_interface/EffortJointInterface</hardwareInterface>
            <mechanicalReduction>1</mechanicalReduction>
        </actuator>
    </transmission>
    <transmission name="trans_left_front_roller_14_joint">
        <type>transmission_interface/SimpleTransmission</type>
        <joint name="left_front_roller_14_joint">
            <hardwareInterface>hardware_interface/EffortJointInterface</hardwareInterface>
        </joint>
        <actuator name="left_front_roller_14_joint_motor">
            <hardwareInterface>hardware_interface/EffortJointInterface</hardwareInterface>
            <mechanicalReduction>1</mechanicalReduction>
        </actuator>
    </transmission>
    <transmission name="trans_left_front_roller_15_joint">
        <type>transmission_interface/SimpleTransmission</type>
        <joint name="left_front_roller_15_joint">
            <hardwareInterface>hardware_interface/EffortJointInterface</hardwareInterface>
        </joint>
        <actuator name="left_front_roller_15_joint_motor">
            <hardwareInterface>hardware_interface/EffortJointInterface</hardwareInterface>
            <mechanicalReduction>1</mechanicalReduction>
        </actuator>
    </transmission>
    <transmission name="trans_right_front_roller_0_joint">
        <type>transmission_interface/SimpleTransmission</type>
        <joint name="right_front_roller_0_joint">
            <hardwareInterface>hardware_interface/EffortJointInterface</hardwareInterface>
        </joint>
        <actuator name="right_front_roller_0_joint_motor">
            <hardwareInterface>hardware_interface/EffortJointInterface</hardwareInterface>
            <mechanicalReduction>1</mechanicalReduction>
        </actuator>
    </transmission>
    <transmission name="trans_right_front_roller_1_joint">
        <type>transmission_interface/SimpleTransmission</type>
        <joint name="right_front_roller_1_joint">
            <hardwareInterface>hardware_interface/EffortJointInterface</hardwareInterface>
        </joint>
        <actuator name="right_front_roller_1_joint_motor">
            <hardwareInterface>hardware_interface/EffortJointInterface</hardwareInterface>
            <mechanicalReduction>1</mechanicalReduction>
        </actuator>
    </transmission>
    <transmission name="trans_right_front_roller_2_joint">
        <type>transmission_interface/SimpleTransmission</type>
        <joint name="right_front_roller_2_joint">
            <hardwareInterface>hardware_interface/EffortJointInterface</hardwareInterface>
        </joint>
        <actuator name="right_front_roller_2_joint_motor">
            <hardwareInterface>hardware_interface/EffortJointInterface</hardwareInterface>
            <mechanicalReduction>1</mechanicalReduction>
        </actuator>
    </transmission>
    <transmission name="trans_right_front_roller_3_joint">
        <type>transmission_interface/SimpleTransmission</type>
        <joint name="right_front_roller_3_joint">
            <hardwareInterface>hardware_interface/EffortJointInterface</hardwareInterface>
        </joint>
        <actuator name="right_front_roller_3_joint_motor">
            <hardwareInterface>hardware_interface/EffortJointInterface</hardwareInterface>
            <mechanicalReduction>1</mechanicalReduction>
        </actuator>
    </transmission>
    <transmission name="trans_right_front_roller_4_joint">
        <type>transmission_interface/SimpleTransmission</type>
        <joint name="right_front_roller_4_joint">
            <hardwareInterface>hardware_interface/EffortJointInterface</hardwareInterface>
        </joint>
        <actuator name="right_front_roller_4_joint_motor">
            <hardwareInterface>hardware_interface/EffortJointInterface</hardwareInterface>
            <mechanicalReduction>1</mechanicalReduction>
        </actuator>
    </transmission>
    <transmission name="trans_right_front_roller_5_joint">
        <type>transmission_interface/SimpleTransmission</type>
        <joint name="right_front_roller_5_joint">
            <hardwareInterface>hardware_interface/EffortJointInterface</hardwareInterface>
        </joint>
        <actuator name="right_front_roller_5_joint_motor">
            <hardwareInterface>hardware_interface/EffortJointInterface</hardwareInterface>
            <mechanicalReduction>1</mechanicalReduction>
        </actuator>
    </transmission>
    <transmission name="trans_right_front_roller_6_joint">
        <type>transmission_interface/SimpleTransmission</type>
        <joint name="right_front_roller_6_joint">
            <hardwareInterface>hardware_interface/EffortJointInterface</hardwareInterface>
        </joint>
        <actuator name="right_front_roller_6_joint_motor">
            <hardwareInterface>hardware_interface/EffortJointInterface</hardwareInterface>
            <mechanicalReduction>1</mechanicalReduction>
        </actuator>
    </transmission>
    <transmission name="trans_right_front_roller_7_joint">
        <type>transmission_interface/SimpleTransmission</type>
        <joint name="right_front_roller_7_joint">
            <hardwareInterface>hardware_interface/EffortJointInterface</hardwareInterface>
        </joint>
        <actuator name="right_front_roller_7_joint_motor">
            <hardwareInterface>hardware_interface/EffortJointInterface</hardwareInterface>
            <mechanicalReduction>1</mechanicalReduction>
        </actuator>
    </transmission>
    <transmission name="trans_right_front_roller_8_joint">
        <type>transmission_interface/SimpleTransmission</type>
        <joint name="right_front_roller_8_joint">
            <hardwareInterface>hardware_interface/EffortJointInterface</hardwareInterface>
        </joint>
        <actuator name="right_front_roller_8_joint_motor">
            <hardwareInterface>hardware_interface/EffortJointInterface</hardwareInterface>
            <mechanicalReduction>1</mechanicalReduction>
        </actuator>
    </transmission>
    <transmission name="trans_right_front_roller_9_joint">
        <type>transmission_interface/SimpleTransmission</type>
        <joint name="right_front_roller_9_joint">
            <hardwareInterface>hardware_interface/EffortJointInterface</hardwareInterface>
        </joint>
        <actuator name="right_front_roller_9_joint_motor">
            <hardwareInterface>hardware_interface/EffortJointInterface</hardwareInterface>
            <mechanicalReduction>1</mechanicalReduction>
        </actuator>
    </transmission>
    <transmission name="trans_right_front_roller_10_joint">
        <type>transmission_interface/SimpleTransmission</type>
        <joint name="right_front_roller_10_joint">
            <hardwareInterface>hardware_interface/EffortJointInterface</hardwareInterface>
        </joint>
        <actuator name="right_front_roller_10_joint_motor">
            <hardwareInterface>hardware_interface/EffortJointInterface</hardwareInterface>
            <mechanicalReduction>1</mechanicalReduction>
        </actuator>
    </transmission>
    <transmission name="trans_right_front_roller_11_joint">
        <type>transmission_interface/SimpleTransmission</type>
        <joint name="right_front_roller_11_joint">
            <hardwareInterface>hardware_interface/EffortJointInterface</hardwareInterface>
        </joint>
        <actuator name="right_front_roller_11_joint_motor">
            <hardwareInterface>hardware_interface/EffortJointInterface</hardwareInterface>
            <mechanicalReduction>1</mechanicalReduction>
        </actuator>
    </transmission>
    <transmission name="trans_right_front_roller_12_joint">
        <type>transmission_interface/SimpleTransmission</type>
        <joint name="right_front_roller_12_joint">
            <hardwareInterface>hardware_interface/EffortJointInterface</hardwareInterface>
        </joint>
        <actuator name="right_front_roller_12_joint_motor">
            <hardwareInterface>hardware_interface/EffortJointInterface</hardwareInterface>
            <mechanicalReduction>1</mechanicalReduction>
        </actuator>
    </transmission>
    <transmission name="trans_right_front_roller_13_joint">
        <type>transmission_interface/SimpleTransmission</type>
        <joint name="right_front_roller_13_joint">
            <hardwareInterface>hardware_interface/EffortJointInterface</hardwareInterface>
        </joint>
        <actuator name="right_front_roller_13_joint_motor">
            <hardwareInterface>hardware_interface/EffortJointInterface</hardwareInterface>
            <mechanicalReduction>1</mechanicalReduction>
        </actuator>
    </transmission>
    <transmission name="trans_right_front_roller_14_joint">
        <type>transmission_interface/SimpleTransmission</type>
        <joint name="right_front_roller_14_joint">
            <hardwareInterface>hardware_interface/EffortJointInterface</hardwareInterface>
        </joint>
        <actuator name="right_front_roller_14_joint_motor">
            <hardwareInterface>hardware_interface/EffortJointInterface</hardwareInterface>
            <mechanicalReduction>1</mechanicalReduction>
        </actuator>
    </transmission>
    <transmission name="trans_right_front_roller_15_joint">
        <type>transmission_interface/SimpleTransmission</type>
        <joint name="right_front_roller_15_joint">
            <hardwareInterface>hardware_interface/EffortJointInterface</hardwareInterface>
        </joint>
        <actuator name="right_front_roller_15_joint_motor">
            <hardwareInterface>hardware_interface/EffortJointInterface</hardwareInterface>
            <mechanicalReduction>1</mechanicalReduction>
        </actuator>
    </transmission>
    <transmission name="trans_left_back_roller_0_joint">
        <type>transmission_interface/SimpleTransmission</type>
        <joint name="left_back_roller_0_joint">
            <hardwareInterface>hardware_interface/EffortJointInterface</hardwareInterface>
        </joint>
        <actuator name="left_back_roller_0_joint_motor">
            <hardwareInterface>hardware_interface/EffortJointInterface</hardwareInterface>
            <mechanicalReduction>1</mechanicalReduction>
        </actuator>
    </transmission>
    <transmission name="trans_left_back_roller_1_joint">
        <type>transmission_interface/SimpleTransmission</type>
        <joint name="left_back_roller_1_joint">
            <hardwareInterface>hardware_interface/EffortJointInterface</hardwareInterface>
        </joint>
        <actuator name="left_back_roller_1_joint_motor">
            <hardwareInterface>hardware_interface/EffortJointInterface</hardwareInterface>
            <mechanicalReduction>1</mechanicalReduction>
        </actuator>
    </transmission>
    <transmission name="trans_left_back_roller_2_joint">
        <type>transmission_interface/SimpleTransmission</type>
        <joint name="left_back_roller_2_joint">
            <hardwareInterface>hardware_interface/EffortJointInterface</hardwareInterface>
        </joint>
        <actuator name="left_back_roller_2_joint_motor">
            <hardwareInterface>hardware_interface/EffortJointInterface</hardwareInterface>
            <mechanicalReduction>1</mechanicalReduction>
        </actuator>
    </transmission>
    <transmission name="trans_left_back_roller_3_joint">
        <type>transmission_interface/SimpleTransmission</type>
        <joint name="left_back_roller_3_joint">
            <hardwareInterface>hardware_interface/EffortJointInterface</hardwareInterface>
        </joint>
        <actuator name="left_back_roller_3_joint_motor">
            <hardwareInterface>hardware_interface/EffortJointInterface</hardwareInterface>
            <mechanicalReduction>1</mechanicalReduction>
        </actuator>
    </transmission>
    <transmission name="trans_left_back_roller_4_joint">
        <type>transmission_interface/SimpleTransmission</type>
        <joint name="left_back_roller_4_joint">
            <hardwareInterface>hardware_interface/EffortJointInterface</hardwareInterface>
        </joint>
        <actuator name="left_back_roller_4_joint_motor">
            <hardwareInterface>hardware_interface/EffortJointInterface</hardwareInterface>
            <mechanicalReduction>1</mechanicalReduction>
        </actuator>
    </transmission>
    <transmission name="trans_left_back_roller_5_joint">
        <type>transmission_interface/SimpleTransmission</type>
        <joint name="left_back_roller_5_joint">
            <hardwareInterface>hardware_interface/EffortJointInterface</hardwareInterface>
        </joint>
        <actuator name="left_back_roller_5_joint_motor">
            <hardwareInterface>hardware_interface/EffortJointInterface</hardwareInterface>
            <mechanicalReduction>1</mechanicalReduction>
        </actuator>
    </transmission>
    <transmission name="trans_left_back_roller_6_joint">
        <type>transmission_interface/SimpleTransmission</type>
        <joint name="left_back_roller_6_joint">
            <hardwareInterface>hardware_interface/EffortJointInterface</hardwareInterface>
        </joint>
        <actuator name="left_back_roller_6_joint_motor">
            <hardwareInterface>hardware_interface/EffortJointInterface</hardwareInterface>
            <mechanicalReduction>1</mechanicalReduction>
        </actuator>
    </transmission>
    <transmission name="trans_left_back_roller_7_joint">
        <type>transmission_interface/SimpleTransmission</type>
        <joint name="left_back_roller_7_joint">
            <hardwareInterface>hardware_interface/EffortJointInterface</hardwareInterface>
        </joint>
        <actuator name="left_back_roller_7_joint_motor">
            <hardwareInterface>hardware_interface/EffortJointInterface</hardwareInterface>
            <mechanicalReduction>1</mechanicalReduction>
        </actuator>
    </transmission>
    <transmission name="trans_left_back_roller_8_joint">
        <type>transmission_interface/SimpleTransmission</type>
        <joint name="left_back_roller_8_joint">
            <hardwareInterface>hardware_interface/EffortJointInterface</hardwareInterface>
        </joint>
        <actuator name="left_back_roller_8_joint_motor">
            <hardwareInterface>hardware_interface/EffortJointInterface</hardwareInterface>
            <mechanicalReduction>1</mechanicalReduction>
        </actuator>
    </transmission>
    <transmission name="trans_left_back_roller_9_joint">
        <type>transmission_interface/SimpleTransmission</type>
        <joint name="left_back_roller_9_joint">
            <hardwareInterface>hardware_interface/EffortJointInterface</hardwareInterface>
        </joint>
        <actuator name="left_back_roller_9_joint_motor">
            <hardwareInterface>hardware_interface/EffortJointInterface</hardwareInterface>
            <mechanicalReduction>1</mechanicalReduction>
        </actuator>
    </transmission>
    <transmission name="trans_left_back_roller_10_joint">
        <type>transmission_interface/SimpleTransmission</type>
        <joint name="left_back_roller_10_joint">
            <hardwareInterface>hardware_interface/EffortJointInterface</hardwareInterface>
        </joint>
        <actuator name="left_back_roller_10_joint_motor">
            <hardwareInterface>hardware_interface/EffortJointInterface</hardwareInterface>
            <mechanicalReduction>1</mechanicalReduction>
        </actuator>
    </transmission>
    <transmission name="trans_left_back_roller_11_joint">
        <type>transmission_interface/SimpleTransmission</type>
        <joint name="left_back_roller_11_joint">
            <hardwareInterface>hardware_interface/EffortJointInterface</hardwareInterface>
        </joint>
        <actuator name="left_back_roller_11_joint_motor">
            <hardwareInterface>hardware_interface/EffortJointInterface</hardwareInterface>
            <mechanicalReduction>1</mechanicalReduction>
        </actuator>
    </transmission>
    <transmission name="trans_left_back_roller_12_joint">
        <type>transmission_interface/SimpleTransmission</type>
        <joint name="left_back_roller_12_joint">
            <hardwareInterface>hardware_interface/EffortJointInterface</hardwareInterface>
        </joint>
        <actuator name="left_back_roller_12_joint_motor">
            <hardwareInterface>hardware_interface/EffortJointInterface</hardwareInterface>
            <mechanicalReduction>1</mechanicalReduction>
        </actuator>
    </transmission>
    <transmission name="trans_left_back_roller_13_joint">
        <type>transmission_interface/SimpleTransmission</type>
        <joint name="left_back_roller_13_joint">
            <hardwareInterface>hardware_interface/EffortJointInterface</hardwareInterface>
        </joint>
        <actuator name="left_back_roller_13_joint_motor">
            <hardwareInterface>hardware_interface/EffortJointInterface</hardwareInterface>
            <mechanicalReduction>1</mechanicalReduction>
        </actuator>
    </transmission>
    <transmission name="trans_left_back_roller_14_joint">
        <type>transmission_interface/SimpleTransmission</type>
        <joint name="left_back_roller_14_joint">
            <hardwareInterface>hardware_interface/EffortJointInterface</hardwareInterface>
        </joint>
        <actuator name="left_back_roller_14_joint_motor">
            <hardwareInterface>hardware_interface/EffortJointInterface</hardwareInterface>
            <mechanicalReduction>1</mechanicalReduction>
        </actuator>
    </transmission>
    <transmission name="trans_left_back_roller_15_joint">
        <type>transmission_interface/SimpleTransmission</type>
        <joint name="left_back_roller_15_joint">
            <hardwareInterface>hardware_interface/EffortJointInterface</hardwareInterface>
        </joint>
        <actuator name="left_back_roller_15_joint_motor">
            <hardwareInterface>hardware_interface/EffortJointInterface</hardwareInterface>
            <mechanicalReduction>1</mechanicalReduction>
        </actuator>
    </transmission>
    <transmission name="trans_right_back_roller_0_joint">
        <type>transmission_interface/SimpleTransmission</type>
        <joint name="right_back_roller_0_joint">
            <hardwareInterface>hardware_interface/EffortJointInterface</hardwareInterface>
        </joint>
        <actuator name="right_back_roller_0_joint_motor">
            <hardwareInterface>hardware_interface/EffortJointInterface</hardwareInterface>
            <mechanicalReduction>1</mechanicalReduction>
        </actuator>
    </transmission>
    <transmission name="trans_right_back_roller_1_joint">
        <type>transmission_interface/SimpleTransmission</type>
        <joint name="right_back_roller_1_joint">
            <hardwareInterface>hardware_interface/EffortJointInterface</hardwareInterface>
        </joint>
        <actuator name="right_back_roller_1_joint_motor">
            <hardwareInterface>hardware_interface/EffortJointInterface</hardwareInterface>
            <mechanicalReduction>1</mechanicalReduction>
        </actuator>
    </transmission>
    <transmission name="trans_right_back_roller_2_joint">
        <type>transmission_interface/SimpleTransmission</type>
        <joint name="right_back_roller_2_joint">
            <hardwareInterface>hardware_interface/EffortJointInterface</hardwareInterface>
        </joint>
        <actuator name="right_back_roller_2_joint_motor">
            <hardwareInterface>hardware_interface/EffortJointInterface</hardwareInterface>
            <mechanicalReduction>1</mechanicalReduction>
        </actuator>
    </transmission>
    <transmission name="trans_right_back_roller_3_joint">
        <type>transmission_interface/SimpleTransmission</type>
        <joint name="right_back_roller_3_joint">
            <hardwareInterface>hardware_interface/EffortJointInterface</hardwareInterface>
        </joint>
        <actuator name="right_back_roller_3_joint_motor">
            <hardwareInterface>hardware_interface/EffortJointInterface</hardwareInterface>
            <mechanicalReduction>1</mechanicalReduction>
        </actuator>
    </transmission>
    <transmission name="trans_right_back_roller_4_joint">
        <type>transmission_interface/SimpleTransmission</type>
        <joint name="right_back_roller_4_joint">
            <hardwareInterface>hardware_interface/EffortJointInterface</hardwareInterface>
        </joint>
        <actuator name="right_back_roller_4_joint_motor">
            <hardwareInterface>hardware_interface/EffortJointInterface</hardwareInterface>
            <mechanicalReduction>1</mechanicalReduction>
        </actuator>
    </transmission>
    <transmission name="trans_right_back_roller_5_joint">
        <type>transmission_interface/SimpleTransmission</type>
        <joint name="right_back_roller_5_joint">
            <hardwareInterface>hardware_interface/EffortJointInterface</hardwareInterface>
        </joint>
        <actuator name="right_back_roller_5_joint_motor">
            <hardwareInterface>hardware_interface/EffortJointInterface</hardwareInterface>
            <mechanicalReduction>1</mechanicalReduction>
        </actuator>
    </transmission>
    <transmission name="trans_right_back_roller_6_joint">
        <type>transmission_interface/SimpleTransmission</type>
        <joint name="right_back_roller_6_joint">
            <hardwareInterface>hardware_interface/EffortJointInterface</hardwareInterface>
        </joint>
        <actuator name="right_back_roller_6_joint_motor">
            <hardwareInterface>hardware_interface/EffortJointInterface</hardwareInterface>
            <mechanicalReduction>1</mechanicalReduction>
        </actuator>
    </transmission>
    <transmission name="trans_right_back_roller_7_joint">
        <type>transmission_interface/SimpleTransmission</type>
        <joint name="right_back_roller_7_joint">
            <hardwareInterface>hardware_interface/EffortJointInterface</hardwareInterface>
        </joint>
        <actuator name="right_back_roller_7_joint_motor">
            <hardwareInterface>hardware_interface/EffortJointInterface</hardwareInterface>
            <mechanicalReduction>1</mechanicalReduction>
        </actuator>
    </transmission>
    <transmission name="trans_right_back_roller_8_joint">
        <type>transmission_interface/SimpleTransmission</type>
        <joint name="right_back_roller_8_joint">
            <hardwareInterface>hardware_interface/EffortJointInterface</hardwareInterface>
        </joint>
        <actuator name="right_back_roller_8_joint_motor">
            <hardwareInterface>hardware_interface/EffortJointInterface</hardwareInterface>
            <mechanicalReduction>1</mechanicalReduction>
        </actuator>
    </transmission>
    <transmission name="trans_right_back_roller_9_joint">
        <type>transmission_interface/SimpleTransmission</type>
        <joint name="right_back_roller_9_joint">
            <hardwareInterface>hardware_interface/EffortJointInterface</hardwareInterface>
        </joint>
        <actuator name="right_back_roller_9_joint_motor">
            <hardwareInterface>hardware_interface/EffortJointInterface</hardwareInterface>
            <mechanicalReduction>1</mechanicalReduction>
        </actuator>
    </transmission>
    <transmission name="trans_right_back_roller_10_joint">
        <type>transmission_interface/SimpleTransmission</type>
        <joint name="right_back_roller_10_joint">
            <hardwareInterface>hardware_interface/EffortJointInterface</hardwareInterface>
        </joint>
        <actuator name="right_back_roller_10_joint_motor">
            <hardwareInterface>hardware_interface/EffortJointInterface</hardwareInterface>
            <mechanicalReduction>1</mechanicalReduction>
        </actuator>
    </transmission>
    <transmission name="trans_right_back_roller_11_joint">
        <type>transmission_interface/SimpleTransmission</type>
        <joint name="right_back_roller_11_joint">
            <hardwareInterface>hardware_interface/EffortJointInterface</hardwareInterface>
        </joint>
        <actuator name="right_back_roller_11_joint_motor">
            <hardwareInterface>hardware_interface/EffortJointInterface</hardwareInterface>
            <mechanicalReduction>1</mechanicalReduction>
        </actuator>
    </transmission>
    <transmission name="trans_right_back_roller_12_joint">
        <type>transmission_interface/SimpleTransmission</type>
        <joint name="right_back_roller_12_joint">
            <hardwareInterface>hardware_interface/EffortJointInterface</hardwareInterface>
        </joint>
        <actuator name="right_back_roller_12_joint_motor">
            <hardwareInterface>hardware_interface/EffortJointInterface</hardwareInterface>
            <mechanicalReduction>1</mechanicalReduction>
        </actuator>
    </transmission>
    <transmission name="trans_right_back_roller_13_joint">
        <type>transmission_interface/SimpleTransmission</type>
        <joint name="right_back_roller_13_joint">
            <hardwareInterface>hardware_interface/EffortJointInterface</hardwareInterface>
        </joint>
        <actuator name="right_back_roller_13_joint_motor">
            <hardwareInterface>hardware_interface/EffortJointInterface</hardwareInterface>
            <mechanicalReduction>1</mechanicalReduction>
        </actuator>
    </transmission>
    <transmission name="trans_right_back_roller_14_joint">
        <type>transmission_interface/SimpleTransmission</type>
        <joint name="right_back_roller_14_joint">
            <hardwareInterface>hardware_interface/EffortJointInterface</hardwareInterface>
        </joint>
        <actuator name="right_back_roller_14_joint_motor">
            <hardwareInterface>hardware_interface/EffortJointInterface</hardwareInterface>
            <mechanicalReduction>1</mechanicalReduction>
        </actuator>
    </transmission>
    <transmission name="trans_right_back_roller_15_joint">
        <type>transmission_interface/SimpleTransmission</type>
        <joint name="right_back_roller_15_joint">
            <hardwareInterface>hardware_interface/EffortJointInterface</hardwareInterface>
        </joint>
        <actuator name="right_back_roller_15_joint_motor">
            <hardwareInterface>hardware_interface/EffortJointInterface</hardwareInterface>
            <mechanicalReduction>1</mechanicalReduction>
        </actuator>
    </transmission>
</robot>
